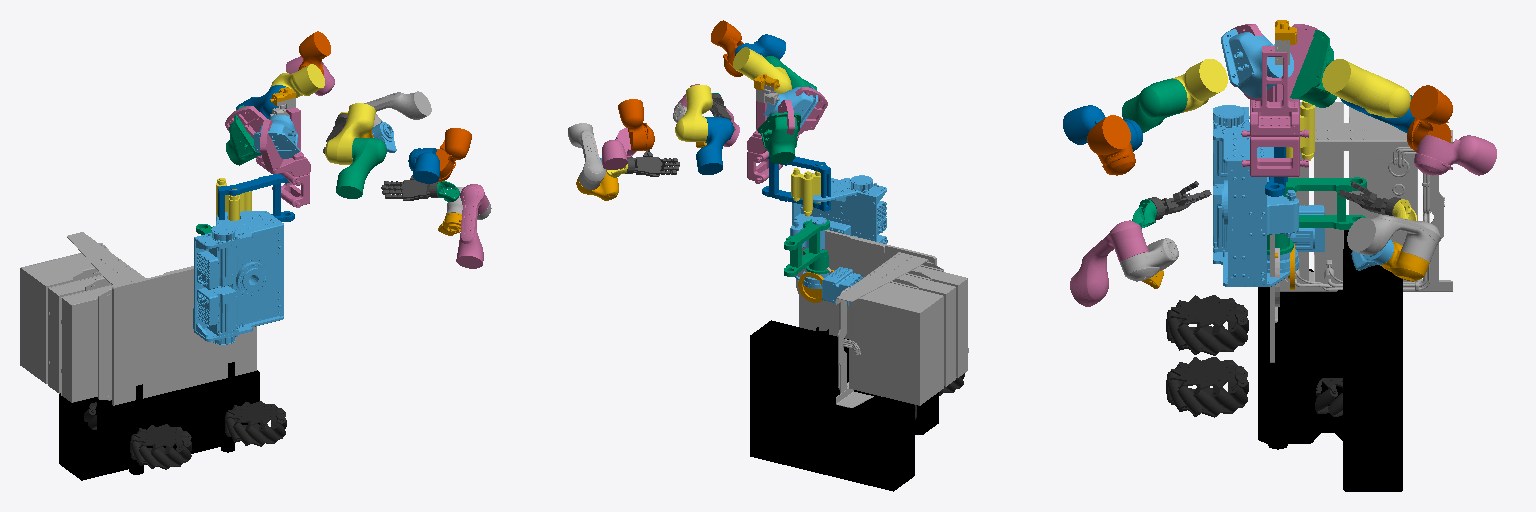
--- Facts derived from the render (not from the file) ---
Views: 3 orthographic renders of the robot side by side, from view 1: azimuth 30°, elevation 25°; view 2: azimuth 150°, elevation 25°; view 3: azimuth 270°, elevation 25°.
Model curi with 112 links and 111 joints (83 revolute, 4 continuous, 24 fixed), rooted at world, posed joints at zero except 2 at the middle of their limits (panda_left_joint4 = -1.57, panda_right_joint4 = -1.57).
Visible links, largest first — view 1: control_box, summit_xls_base_link, torso_base2, torso_end, summit_xls_back_right_wheel_link, summit_xls_front_right_wheel_link, panda_right_link5, panda_right_link1, panda_right_link2, torso_link_c1, panda_left_link5, panda_right_link4 (+7 smaller); view 2: control_box, summit_xls_base_link, torso_base2, torso_end, torso_link_b2, panda_left_link1, panda_left_link0, panda_left_link5, panda_left_link2, torso_link_c1, panda_left_link3, panda_right_link2 (+6 smaller); view 3: summit_xls_base_link, control_box, torso_base2, torso_end, summit_xls_front_right_wheel_link, summit_xls_back_right_wheel_link, panda_left_link1, panda_right_link5, panda_left_link5, panda_right_link0, panda_left_link4, torso_link_b2 (+11 smaller).
Link boxes in pixels (<box>): control_box: <box>20,232,256,405</box>; summit_xls_base_link: <box>59,362,259,480</box>; torso_base2: <box>193,211,283,344</box>; torso_end: <box>225,106,310,207</box>; summit_xls_back_right_wheel_link: <box>130,424,191,469</box>; summit_xls_front_right_wheel_link: <box>225,401,286,446</box>; panda_right_link5: <box>456,184,488,268</box>; panda_right_link1: <box>336,138,386,198</box>; panda_right_link2: <box>325,103,375,164</box>; torso_link_c1: <box>218,174,294,221</box>; panda_left_link5: <box>364,91,431,126</box>; panda_right_link4: <box>436,128,471,181</box>; control_box: <box>796,230,968,407</box>; summit_xls_base_link: <box>750,320,938,491</box>; torso_base2: <box>790,173,887,305</box>; torso_end: <box>747,87,827,183</box>; torso_link_b2: <box>784,219,829,276</box>; panda_left_link1: <box>675,85,712,141</box>; panda_left_link0: <box>757,112,800,163</box>; panda_left_link5: <box>568,123,605,189</box>; panda_left_link2: <box>696,117,733,174</box>; torso_link_c1: <box>762,156,830,211</box>; panda_left_link3: <box>618,99,654,150</box>; panda_right_link2: <box>733,47,791,93</box>; summit_xls_base_link: <box>1258,230,1402,491</box>; control_box: <box>1270,102,1452,362</box>; torso_base2: <box>1213,105,1324,286</box>; torso_end: <box>1227,24,1319,176</box>; summit_xls_front_right_wheel_link: <box>1166,357,1248,417</box>; summit_xls_back_right_wheel_link: <box>1166,295,1248,355</box>; panda_left_link1: <box>1322,59,1410,117</box>; panda_right_link5: <box>1070,220,1148,306</box>; panda_left_link5: <box>1347,214,1440,262</box>; panda_right_link0: <box>1221,29,1293,97</box>; panda_left_link4: <box>1414,135,1496,175</box>; torso_link_b2: <box>1267,177,1366,254</box>.
Size in the robot's own frame: 1.84 by 1.32 by 1.64 metres.
74 mesh visuals loaded from 32 distinct referenced files (30 binary STL); not drawn: 2 (reference not matched to a file when rendering).

robot.urdf — curi:
<?xml version="1.0" ?>
<!-- =================================================================================== -->
<!-- |    This document was autogenerated by xacro from ../robots/curi.urdf.xacro      | -->
<!-- |    EDITING THIS FILE BY HAND IS NOT RECOMMENDED                                 | -->
<!-- =================================================================================== -->
<robot name="curi">
  <!-- in kg-->
  <!-- =============================================================== -->
  <!-- || This file does not contain official inertial properties   || -->
  <!-- || of panda robot. The values are from the identification    || -->
  <!-- || results published in: Identification of the Franka Emika  || -->
  <!-- || PandaRobot With Retrieval of Feasible Parameters Using    || -->
  <!-- || Penalty-Based Optimization                                || -->
  <!-- || by: Claudio Gaz, Marco Cognetti, Alexander Oliva,         || -->
  <!-- || Paolo Robuffo Giordano, Alessandro de Luca                || -->
  <!-- =============================================================== -->

   <mujoco>
    <compiler meshdir="../all_meshes" balanceinertia="true"  discardvisual="false" />
  </mujoco>

  <link name="world"/>
  <material name="qbhand/optional">
  <color rgba="0.0 0.5 0.8 1.0"/>
  </material>
  <material name="qbhand/base">
    <color rgba="0.35 0.35 0.35 1.0"/>
  </material>
  <material name="qbhand/palm">
    <color rgba="0.35 0.35 0.35 1.0"/>
  </material>
  <material name="qbhand/knuckle">
    <color rgba="0.35 0.35 0.35 1.0"/>
  </material>
  <material name="qbhand/proximal">
    <color rgba="0.35 0.35 0.35 1.0"/>
  </material>
  <material name="qbhand/middle">
    <color rgba="0.35 0.35 0.35 1.0"/>
  </material>
  <material name="qbhand/distal">
    <color rgba="0.35 0.35 0.35 1.0"/>
  </material>
  <material name="qbhand/default">
    <color rgba="0.35 0.35 0.35 1.0"/>
  </material>
  <joint name="reference" type="fixed">
    <parent link="world"/>
    <child link="summit_xls_base_footprint"/>
  </joint>
  <link name="summit_xls_base_footprint">
    <visual>
      <origin rpy="0 0 0" xyz="0 0 0"/>
      <geometry>
        <box size="0.001 0.001 0.001"/>
      </geometry>
    </visual>
  </link>
  <joint name="summit_xls_base_footprint_joint" type="fixed">
    <origin rpy="0 0 0" xyz="0 0 0.127"/>
    <parent link="summit_xls_base_footprint"/>
    <child link="summit_xls_base_link"/>
  </joint>
  <!-- BASE_LINK -->
  <link name="summit_xls_base_link">
    <inertial>
      <mass value="300.0"/>
      <origin xyz="0 0 0"/>
      <inertia ixx="1.391" ixy="0.004" ixz="0.0" iyy="6.853" iyz="0.0" izz="6.125"/>
    </inertial>
    <visual>
      <origin rpy="0 0 0" xyz="0 0 0"/>
      <geometry>
        <mesh filename="../meshes/robotnik/bases/summit_xls_chassis_visual.stl"/>
      </geometry>
      <material name="black">
        <color rgba="0.0 0.0 0.0 1"/>
      </material>
    </visual>
    <collision>
      <origin rpy="0 0 0 " xyz="0 0 0"/>
      <geometry>
        <mesh filename="../meshes/robotnik/bases/summit_xls_chassis.stl"/>
      </geometry>
    </collision>
  </link>
  <joint name="summit_xls_front_right_wheel_joint" type="continuous">
    <parent link="summit_xls_base_link"/>
    <child link="summit_xls_front_right_wheel_link"/>
    <origin rpy="0 0 0" xyz="0.2225 -0.2045 0.0"/>
    <axis rpy="0 0 0" xyz="0 1 0"/>
    <limit effort="100" velocity="100"/>
    <joint_properties damping="0.0" friction="0.0"/>
  </joint>
  <link name="summit_xls_front_right_wheel_link">
    <visual>
      <origin rpy="0 0 0" xyz="0 0 0"/>
      <geometry>
        <mesh filename="../meshes/robotnik/wheels/omni_wheel_2_visual.stl"/>
      </geometry>
      <material name="darkgrey">
        <color rgba="0.2 0.2 0.2 1"/>
      </material>
    </visual>
    <collision>
      <origin rpy="1.5707963267948966 0 0" xyz="0 0 0"/>
      <geometry>
        <cylinder length="0.087" radius="0.127"/>
      </geometry>
    </collision>
    <inertial>
      <mass value="6.5"/>
      <origin xyz="0 0 0"/>
      <inertia ixx="0.0303095" ixy="0" ixz="0" iyy="0.05241925" iyz="0" izz="0.0303095"/>
    </inertial>
  </link>
  <joint name="summit_xls_front_left_wheel_joint" type="continuous">
    <parent link="summit_xls_base_link"/>
    <child link="summit_xls_front_left_wheel_link"/>
    <origin rpy="0 0 0" xyz="0.2225 0.2045 0.0"/>
    <axis rpy="0 0 0" xyz="0 1 0"/>
    <limit effort="100" velocity="100"/>
    <joint_properties damping="0.0" friction="0.0"/>
  </joint>
  <link name="summit_xls_front_left_wheel_link">
    <visual>
      <origin rpy="0 0 0" xyz="0 0 0"/>
      <geometry>
        <mesh filename="../meshes/robotnik/wheels/omni_wheel_1_visual.stl"/>
      </geometry>
      <material name="darkgrey">
        <color rgba="0.2 0.2 0.2 1"/>
      </material>
    </visual>
    <collision>
      <origin rpy="1.5707963267948966 0 0" xyz="0 0 0"/>
      <geometry>
        <cylinder length="0.087" radius="0.127"/>
      </geometry>
    </collision>
    <inertial>
      <mass value="6.5"/>
      <origin xyz="0 0 0"/>
      <inertia ixx="0.0303095" ixy="0" ixz="0" iyy="0.05241925" iyz="0" izz="0.0303095"/>
    </inertial>
  </link>
  <joint name="summit_xls_back_left_wheel_joint" type="continuous">
    <parent link="summit_xls_base_link"/>
    <child link="summit_xls_back_left_wheel_link"/>
    <origin rpy="0 0 0" xyz="-0.2225 0.2045 0.0"/>
    <axis rpy="0 0 0" xyz="0 1 0"/>
    <limit effort="100" velocity="100"/>
    <joint_properties damping="0.0" friction="0.0"/>
  </joint>
  <link name="summit_xls_back_left_wheel_link">
    <visual>
      <origin rpy="0 0 0" xyz="0 0 0"/>
      <geometry>
        <mesh filename="../meshes/robotnik/wheels/omni_wheel_1_visual.stl"/>
      </geometry>
      <material name="darkgrey">
        <color rgba="0.2 0.2 0.2 1"/>
      </material>
    </visual>
    <collision>
      <origin rpy="1.5707963267948966 0 0" xyz="0 0 0"/>
      <geometry>
        <cylinder length="0.087" radius="0.127"/>
      </geometry>
    </collision>
    <inertial>
      <mass value="6.5"/>
      <origin xyz="0 0 0"/>
      <inertia ixx="0.0303095" ixy="0" ixz="0" iyy="0.05241925" iyz="0" izz="0.0303095"/>
    </inertial>
  </link>
  <joint name="summit_xls_back_right_wheel_joint" type="continuous">
    <parent link="summit_xls_base_link"/>
    <child link="summit_xls_back_right_wheel_link"/>
    <origin rpy="0 0 0" xyz="-0.2225 -0.2045 0.0"/>
    <axis rpy="0 0 0" xyz="0 1 0"/>
    <limit effort="100" velocity="100"/>
    <joint_properties damping="0.0" friction="0.0"/>
  </joint>
  <link name="summit_xls_back_right_wheel_link">
    <visual>
      <origin rpy="0 0 0" xyz="0 0 0"/>
      <geometry>
        <mesh filename="../meshes/robotnik/wheels/omni_wheel_2_visual.stl"/>
      </geometry>
      <material name="darkgrey">
        <color rgba="0.2 0.2 0.2 1"/>
      </material>
    </visual>
    <collision>
      <origin rpy="1.5707963267948966 0 0" xyz="0 0 0"/>
      <geometry>
        <cylinder length="0.087" radius="0.127"/>
      </geometry>
    </collision>
    <inertial>
      <mass value="6.5"/>
      <origin xyz="0 0 0"/>
      <inertia ixx="0.0303095" ixy="0" ixz="0" iyy="0.05241925" iyz="0" izz="0.0303095"/>
    </inertial>
  </link>
  <joint name="torso_joint_summit_xls_base_footprint" type="fixed">
    <parent link="summit_xls_base_footprint"/>
    <child link="control_box"/>
    <origin rpy="0 0 0" xyz="0 0 0.52262"/>
  </joint>
  <link name="control_box">
    <visual>
      <origin rpy="0 0 0" xyz="0 0 0"/>
      <geometry>
        <mesh filename="../meshes/clover/visual/control_box_visual.stl"/>
      </geometry>
    </visual>
    <inertial>
      <!-- Estimated guesses from CAD -->
      <origin rpy="0 0 0" xyz="-0.221652 1.4173e-02 0.165597"/>
      <mass value="37.813"/>
      <inertia ixx="1.672305973" ixy="-0.023504956" ixz="-0.565170381" iyy="2.616747309" iyz="0.046623093" izz="2.524344244"/>
    </inertial>
  </link>
  <link name="torso_base1">
    <visual>
      <origin rpy="0 0 0" xyz="0 0 0"/>
      <geometry>
        <mesh filename="../meshes/clover/visual/torso_base1_visual.stl"/>
      </geometry>
    </visual>
    <collision>
      <origin rpy="0 0 0" xyz="0 0 0"/>
      <geometry>
        <mesh filename="../meshes/clover/collision/torso_base1.stl"/>
      </geometry>
    </collision>
    <inertial>
      <origin rpy="0 0 0" xyz="0 0 0.02555"/>
      <mass value="1.18"/>
      <inertia ixx="0.00241116" ixy="0" ixz="0" iyy="0.00241116" iyz="0" izz="0.00362611"/>
    </inertial>
  </link>
  <joint name="torso_joint1" type="fixed">
    <origin rpy="0 0 0" xyz="0.2375 0 0.015"/>
    <parent link="control_box"/>
    <child link="torso_base1"/>
  </joint>
  <link name="torso_base2">
    <visual>
      <origin rpy="0 0 0" xyz="0 0 0"/>
      <geometry>
        <mesh filename="../meshes/clover/visual/torso_base2_visual.stl"/>
      </geometry>
    </visual>
    <collision>
      <origin rpy="0 0 0" xyz="0 0 0"/>
      <geometry>
        <mesh filename="../meshes/clover/collision/torso_base2.stl"/>
      </geometry>
    </collision>
    <inertial>
      <origin rpy="0 0 0" xyz="-0.05478 0.03332 -0.07616"/>
      <mass value="35.66"/>
      <inertia ixx="0.87275935" ixy="-0.06173772" ixz="0.01895727" iyy="0.57302356" iyz="0.11888755" izz="1.06212354"/>
    </inertial>
  </link>
  <joint name="torso_actuated_joint1" type="revolute">
    <safety_controller k_position="100.0" k_velocity="40.0" soft_lower_limit="-1.5" soft_upper_limit="1.5"/>
    <origin rpy="0 0 0" xyz="0 0 0.215"/>
    <parent link="torso_base1"/>
    <child link="torso_base2"/>
    <axis xyz="0 0 1"/>
    <limit acceleration="0.6" effort="300" lower="-1.57" upper="1.57" velocity="0.3"/>
    <dynamics D="1" K="7000" damping="0.003" friction="0.0" mu_coulomb="0" mu_viscous="16"/>
  </joint>
  <link name="torso_link_b2">
    <visual>
      <origin rpy="0 0 0" xyz="0 0 0"/>
      <geometry>
        <mesh filename="../meshes/clover/visual/torso_link_b2_visual.stl"/>
      </geometry>
    </visual>
    <collision>
      <origin rpy="0 0 0" xyz="0 0 0"/>
      <geometry>
        <mesh filename="../meshes/clover/collision/torso_link_b2.stl"/>
      </geometry>
    </collision>
    <inertial>
      <origin rpy="0 0 0" xyz="2.066e-03 2.4036e-02 8.3361e-02"/>
      <mass value="2.698"/>
      <inertia ixx="0.035907338" ixy="-0.000134319" ixz="0.000037769" iyy="0.023944853" iyz="-0.005304362" izz="0.014484777"/>
    </inertial>
  </link>
  <joint name="torso_actuated_joint2" type="fixed">
    <origin rpy="0 0 0" xyz="0 0 0"/>
    <parent link="torso_base2"/>
    <child link="torso_link_b2"/>
    <axis xyz="0 1 0"/>
    <limit acceleration="0.6" effort="300" lower="-1.2" upper="0.5" velocity="0.3"/>
    <dynamics D="1" K="7000" damping="0.003" friction="0.0" mu_coulomb="0" mu_viscous="16"/>
  </joint>
  <link name="torso_middle">
    <visual>
      <origin rpy="0 0 0" xyz="0 0 0"/>
      <geometry>
        <mesh filename="../meshes/clover/visual/torso_middle_visual.stl"/>
      </geometry>
    </visual>
    <collision>
      <origin rpy="0 0 0" xyz="0 0 0"/>
      <geometry>
        <mesh filename="../meshes/clover/collision/torso_middle.stl"/>
      </geometry>
    </collision>
    <inertial>
      <origin rpy="0 0 0" xyz="3.2089e-02 0 4.789e-02"/>
      <mass value="2.688"/>
      <inertia ixx="0.00744652" ixy="-0.00003495" ixz="0.000230038" iyy="0.006884728" iyz="0.000041279" izz="0.008084049"/>
    </inertial>
  </link>
  <joint name="torso_joint5" type="fixed">
    <origin rpy="0 0 0" xyz="0 0 0.25"/>
    <parent link="torso_link_b2"/>
    <child link="torso_middle"/>
    <axis xyz="0 1 0"/>
    <limit acceleration="0.6" effort="300" lower="-0.5" upper="1.2" velocity="0.3"/>
    <dynamics D="1" K="7000" damping="0.003" friction="0.0" mu_coulomb="0" mu_viscous="16"/>
    <mimic joint="torso_actuated_joint2" multiplier="-1"/>
  </joint>
  <link name="torso_link_c1">
    <visual>
      <origin rpy="0 0 0" xyz="0 0 0"/>
      <geometry>
        <mesh filename="../meshes/clover/visual/torso_link_c1_visual.stl"/>
      </geometry>
    </visual>
    <collision>
      <origin rpy="0 0 0" xyz="0 0 0"/>
      <geometry>
        <mesh filename="../meshes/clover/collision/torso_link_c1.stl"/>
      </geometry>
    </collision>
    <inertial>
      <origin rpy="0 0 0" xyz="0.10533 1.503e-03 9.863e-03"/>
      <mass value="2.4"/>
      <inertia ixx="0.014986407" ixy="-1.7102e-05" ixz="-4.53321e-04" iyy="0.027549549" iyz="-3.557e-05" izz="0.041344611"/>
    </inertial>
  </link>
  <joint name="torso_actuated_joint3" type="fixed">
    <origin rpy="0 0 0" xyz="0 0 0"/>
    <parent link="torso_middle"/>
    <child link="torso_link_c1"/>
  </joint>
  <link name="shell">
    <visual>
      <origin rpy="0 0 0" xyz="0 0 0"/>
      <geometry>
        <mesh filename="../meshes/clover/visual/shell_v2_share_zup_visual.stl"/>
      </geometry>
    <material name="shell">
        <color rgba="1 1 1. 1.0"/>
      </material>
    </visual>
    <collision>
      <origin rpy="0 0 0" xyz="0 0 0"/>
      <geometry>
        <mesh filename="../meshes/clover/collision/Shell_v2_Share_zup.STL"/>
      </geometry>
    </collision>
    <inertial>
      <origin rpy="0 0 0" xyz="0.120384 0.569e-03 6.703e-03"/>
      <mass value="1.63531"/>
      <inertia ixx="0.010693997" ixy="5.645e-06" ixz="-9.4779e-04" iyy="0.026717753" iyz="-8.196e-06" izz="0.036543169"/>
    </inertial>
  </link>
  <joint name="shell_torso_end" type="fixed">
    <parent link="torso_end"/>
    <child link="shell"/>
    <origin rpy="0 0 0" xyz="0 0 0"/>
  </joint>
  <link name="torso_end">
    <visual>
      <origin rpy="0 0 0" xyz="0 0 0"/>
      <geometry>
        <mesh filename="../meshes/clover/visual/torso_end_v2_visual.stl"/>
      </geometry>
    </visual>
    <collision>
      <origin rpy="0 0 0" xyz="0 0 0"/>
      <geometry>
        <mesh filename="../meshes/clover/collision/torso_end_v2.stl"/>
      </geometry>
    </collision>
    <inertial>
      <origin rpy="0 0 0" xyz="-5.05e-03 -0.09e-03 0.27614"/>
      <mass value="1.63531"/>
      <inertia ixx="0.010693997" ixy="5.645e-06" ixz="-9.4779e-04" iyy="0.026717753" iyz="-8.196e-06" izz="0.036543169"/>
    </inertial>
  </link>
  <joint name="torso_joint8" type="fixed">
    <origin rpy="0 0 0" xyz="0.25 0 0"/>
    <parent link="torso_link_c1"/>
    <child link="torso_end"/>
  </joint>
  <joint name="head_joint_torso_end" type="fixed">
    <parent link="torso_end"/>
    <child link="head_base"/>
    <origin rpy="0 0 0" xyz="0.02 0 0.3929"/>
  </joint>
  <link name="head_base">
    <visual>
      <origin rpy="0 0 0" xyz="0 0 0"/>
      <geometry>
        <mesh filename="../meshes/clover/visual/head_base_visual.stl"/>
      </geometry>
    </visual>
    <collision>
      <origin rpy="0 0 0" xyz="0 0 0"/>
      <geometry>
        <mesh filename="../meshes/clover/collision/head_base.stl"/>
      </geometry>
    </collision>
    <inertial>
      <!-- Estimated guesses from CAD -->
      <origin rpy="0 0 0" xyz="-1.9726e-02 1.281e-03 2.2693e-02"/>
      <mass value="0.803"/>
      <inertia ixx="6.56432e-04" ixy="-3.4976e-05" ixz="0.652e-6" iyy="6.42664e-04" iyz="-1.577e-06" izz="1.046862e-03"/>
    </inertial>
  </link>
  <joint name="head_actuated_joint1" type="revolute">
    <safety_controller k_position="100.0" k_velocity="40.0" soft_lower_limit="-1.5" soft_upper_limit="1.5"/>
    <origin rpy="0 0 0" xyz="0 0 0.045"/>
    <parent link="head_base"/>
    <child link="head_link1"/>
    <axis xyz="0 0 1"/>
    <limit effort="30" lower="-1.57" upper="1.57" velocity="1.0"/>
    <dynamics D="1" K="7000" damping="0.003" friction="0.0" mu_coulomb="0" mu_viscous="16"/>
  </joint>
  <link name="head_link1">
    <visual>
      <origin rpy="0 0 0" xyz="0 0 0"/>
      <geometry>
        <mesh filename="../meshes/clover/visual/head_link1_visual.stl"/>
      </geometry>
    </visual>
    <collision>
      <origin rpy="0 0 0" xyz="0 0 0"/>
      <geometry>
        <mesh filename="../meshes/clover/collision/head_link1.stl"/>
      </geometry>
    </collision>
    <inertial>
      <!-- Estimated guesses from CAD -->
      <origin rpy="0 0 0" xyz="-1.8392e-02 -0.4e-03 2.8338e-02"/>
      <mass value="0.534"/>
      <inertia ixx="2.34142e-04" ixy="-3.129e-06" ixz="6.321e-05" iyy="5.09246e-04" iyz="1.49e-06" izz="4.3777e-04"/>
    </inertial>
  </link>
  <joint name="head_actuated_joint2" type="revolute">
    <safety_controller k_position="100.0" k_velocity="40.0" soft_lower_limit="-0.8" soft_upper_limit="0.5"/>
    <origin rpy="0 0 0" xyz="0 0 0.043"/>
    <parent link="head_link1"/>
    <child link="head_link2"/>
    <axis xyz="0 1 0"/>
    <limit effort="30" lower="-0.82" upper="0.52" velocity="1.0"/>
    <dynamics D="1" K="7000" damping="0.003" friction="0.0" mu_coulomb="0" mu_viscous="16"/>
  </joint>
  <link name="head_link2">
    <visual>
      <origin rpy="0 0 0" xyz="0 0 0"/>
      <geometry>
        <mesh filename="../meshes/clover/visual/head_link2_visual.stl"/>
      </geometry>
    </visual>
    <collision>
      <origin rpy="0 0 0" xyz="0 0 0"/>
      <geometry>
        <mesh filename="../meshes/clover/collision/head_link2.stl"/>
      </geometry>
    </collision>
    <inertial>
      <!-- Estimated guesses from CAD -->
      <origin rpy="0 0 0" xyz="3.8624e-02 0 0.143829"/>
      <mass value="1.346"/>
      <inertia ixx="0.010306864" ixy="-5.953e-06" ixz="6.74795e-04" iyy="0.011632066" iyz="-1.125e-06" izz="0.009582498"/>
    </inertial>
  </link>
  <joint name="panda_left_joint_torso_end" type="fixed">
    <parent link="torso_end"/>
    <child link="panda_left_link0"/>
    <origin rpy="-1.3685238493647454 0.913218224774749 -0.6168337646727412" xyz="-0.08537 0.07009 0.2535"/>
  </joint>
  <link name="panda_left_link0">
    <visual>
      <origin rpy="0 0 0" xyz="0 0 0"/>
      <geometry>
        <mesh filename="../meshes/franka/visual/link0_visual.stl"/>
      </geometry>
    </visual>
    <collision>
      <origin rpy="0 0 0" xyz="0 0 0"/>
      <geometry>
        <mesh filename="../meshes/franka/collision/link0.stl"/>
      </geometry>
    </collision>
    <inertial>
      <!-- Estimated guesses from CAD -->
      <origin rpy="0 0 0" xyz="-0.041018 -0.00014 0.049974"/>
      <mass value="0.629769"/>
      <inertia ixx="0.00315" ixy="8.2904E-07" ixz="0.00015" iyy="0.00388" iyz="8.2299E-06" izz="0.004285"/>
    </inertial>
  </link>
  <link name="panda_left_link1">
    <visual>
      <origin rpy="0 0 0" xyz="0 0 0"/>
      <geometry>
        <mesh filename="../meshes/franka/visual/link1_visual.stl"/>
      </geometry>
    </visual>
    <collision>
      <origin rpy="0 0 0" xyz="0 0 0"/>
      <geometry>
        <mesh filename="../meshes/franka/collision/link1.stl"/>
      </geometry>
    </collision>
    <inertial>
      <origin rpy="0 0 0" xyz="0.003875 0.002081 -0.04762"/>
      <mass value="4.970684"/>
      <inertia ixx="0.70337" ixy="-0.00013900" ixz="0.0067720" iyy="0.70661" iyz="0.019169" izz="0.0091170"/>
    </inertial>
  </link>
  <joint name="panda_left_joint1" type="revolute">
    <safety_controller k_position="100.0" k_velocity="40.0" soft_lower_limit="-2.8973" soft_upper_limit="2.8973"/>
    <origin rpy="0 0 0" xyz="0 0 0.333"/>
    <parent link="panda_left_link0"/>
    <child link="panda_left_link1"/>
    <axis xyz="0 0 1"/>
    <limit acceleration="15" effort="87" lower="-2.8973" upper="2.8973" velocity="2.1750"/>
    <dynamics D="1" K="7000" damping="0.003" friction="0.0" mu_coulomb="0" mu_viscous="16"/>
  </joint>
  <link name="panda_left_link2">
    <visual>
      <origin rpy="0 0 0" xyz="0 0 0"/>
      <geometry>
        <mesh filename="../meshes/franka/visual/link2_visual.stl"/>
      </geometry>
    </visual>
    <collision>
      <origin rpy="0 0 0" xyz="0 0 0"/>
      <geometry>
        <mesh filename="../meshes/franka/collision/link2.stl"/>
      </geometry>
    </collision>
    <inertial>
      <origin rpy="0 0 0" xyz=" -0.003141 -0.02872  0.003495"/>
      <mass value="0.646926"/>
      <inertia ixx="0.0079620" ixy="-3.9250e-3" ixz="1.0254e-02" iyy="2.8110e-02" iyz="7.0400e-04" izz="2.5995e-02"/>
    </inertial>
  </link>
  <joint name="panda_left_joint2" type="revolute">
    <safety_controller k_position="100.0" k_velocity="40.0" soft_lower_limit="-1.7628" soft_upper_limit="1.7628"/>
    <origin rpy="-1.5707963267948966 0 0" xyz="0 0 0"/>
    <parent link="panda_left_link1"/>
    <child link="panda_left_link2"/>
    <axis xyz="0 0 1"/>
    <limit acceleration="7.5" effort="87" lower="-1.7628" upper="1.7628" velocity="2.1750"/>
    <dynamics D="1" K="7000" damping="0.003" friction="0.0" mu_coulomb="0" mu_viscous="16"/>
  </joint>
  <link name="panda_left_link3">
    <visual>
      <origin rpy="0 0 0" xyz="0 0 0"/>
      <geometry>
        <mesh filename="../meshes/franka/visual/link3_visual.stl"/>
      </geometry>
    </visual>
    <collision>
      <origin rpy="0 0 0" xyz="0 0 0"/>
      <geometry>
        <mesh filename="../meshes/franka/collision/link3.stl"/>
      </geometry>
    </collision>
    <inertial>
      <origin rpy="0 0 0" xyz="2.7518e-02 3.9252e-02 -6.6502e-02"/>
      <mass value="3.228604"/>
      <inertia ixx="3.7242e-02" ixy="-4.7610e-03" ixz="-1.1396e-02" iyy="3.6155e-02" iyz="-1.2805e-02" izz="1.0830e-02"/>
    </inertial>
  </link>
  <joint name="panda_left_joint3" type="revolute">
    <safety_controller k_position="100.0" k_velocity="40.0" soft_lower_limit="-2.8973" soft_upper_limit="2.8973"/>
    <origin rpy="1.5707963267948966 0 0" xyz="0 -0.316 0"/>
    <parent link="panda_left_link2"/>
    <child link="panda_left_link3"/>
    <axis xyz="0 0 1"/>
    <limit acceleration="12.5" effort="87" lower="-2.8973" upper="2.8973" velocity="2.1750"/>
    <dynamics D="1" K="7000" damping="0.003" friction="0.0" mu_coulomb="0" mu_viscous="16"/>
  </joint>
  <link name="panda_left_link4">
    <visual>
      <origin rpy="0 0 0" xyz="0 0 0"/>
      <geometry>
        <mesh filename="../meshes/franka/visual/link4_visual.stl"/>
      </geometry>
    </visual>
    <collision>
      <origin rpy="0 0 0" xyz="0 0 0"/>
      <geometry>
        <mesh filename="../meshes/franka/collision/link4.stl"/>
      </geometry>
    </collision>
    <inertial>
      <origin rpy="0 0 0" xyz="-5.317e-02 1.04419e-01 2.7454e-02"/>
      <mass value="3.587895"/>
      <inertia ixx="2.5853e-02" ixy="7.7960e-03" ixz="-1.3320e-03" iyy="1.9552e-02" iyz="8.6410e-03" izz="2.8323e-02"/>
    </inertial>
  </link>
  <joint name="panda_left_joint4" type="revolute">
    <safety_controller k_position="100.0" k_velocity="40.0" soft_lower_limit="-3.0718" soft_upper_limit="-0.0698"/>
    <origin rpy="1.5707963267948966 0 0" xyz="0.0825 0 0"/>
    <parent link="panda_left_link3"/>
    <child link="panda_left_link4"/>
    <axis xyz="0 0 1"/>
    <limit acceleration="12.5" effort="87" lower="-3.0718" upper="-0.0698" velocity="2.1750"/>
    <dynamics D="1" K="7000" damping="0.003" friction="0.0" mu_coulomb="0" mu_viscous="16"/>
  </joint>
  <link name="panda_left_link5">
    <visual>
      <origin rpy="0 0 0" xyz="0 0 0"/>
      <geometry>
        <mesh filename="../meshes/franka/visual/link5_visual.stl"/>
      </geometry>
    </visual>
    <collision>
      <origin rpy="0 0 0" xyz="0 0 0"/>
      <geometry>
        <mesh filename="../meshes/franka/collision/link5.stl"/>
      </geometry>
    </collision>
    <inertial>
      <origin rpy="0 0 0" xyz="-1.1953e-02 4.1065e-02 -3.8437e-02"/>
      <mass value="1.225946"/>
      <inertia ixx="3.5549e-02" ixy="-2.1170e-03" ixz="-4.0370e-03" iyy="2.9474e-02" iyz="2.2900e-04" izz="8.6270e-03"/>
    </inertial>
  </link>
  <joint name="panda_left_joint5" type="revolute">
    <safety_controller k_position="100.0" k_velocity="40.0" soft_lower_limit="-2.8973" soft_upper_limit="2.8973"/>
    <origin rpy="-1.5707963267948966 0 0" xyz="-0.0825 0.384 0"/>
    <parent link="panda_left_link4"/>
    <child link="panda_left_link5"/>
    <axis xyz="0 0 1"/>
    <limit acceleration="15" effort="12" lower="-2.8973" upper="2.8973" velocity="2.6100"/>
    <dynamics D="1" K="7000" damping="0.003" friction="0.0" mu_coulomb="0" mu_viscous="16"/>
  </joint>
  <link name="panda_left_link6">
    <visual>
      <origin rpy="0 0 0" xyz="0 0 0"/>
      <geometry>
        <mesh filename="../meshes/franka/visual/link6_visual.stl"/>
      </geometry>
    </visual>
    <collision>
      <origin rpy="0 0 0" xyz="0 0 0"/>
      <geometry>
        <mesh filename="../meshes/franka/collision/link6.stl"/>
      </geometry>
    </collision>
    <inertial>
      <origin rpy="0 0 0" xyz="6.0149e-02 -1.4117e-02 -1.0517e-02"/>
      <mass value="1.666555"/>
      <inertia ixx="1.9640e-03" ixy="1.0900e-04" ixz="-1.1580e-03" iyy="4.3540e-03" iyz="3.4100e-04" izz="5.4330e-03"/>
    </inertial>
  </link>
  <joint name="panda_left_joint6" type="revolute">
    <safety_controller k_position="100.0" k_velocity="40.0" soft_lower_limit="-0.0175" soft_upper_limit="3.7525"/>
    <origin rpy="1.5707963267948966 0 0" xyz="0 0 0"/>
    <parent link="panda_left_link5"/>
    <child link="panda_left_link6"/>
    <axis xyz="0 0 1"/>
    <limit acceleration="20" effort="12" lower="-0.0175" upper="3.7525" velocity="2.6100"/>
    <dynamics D="1" K="7000" damping="0.003" friction="0.0" mu_coulomb="0" mu_viscous="16"/>
  </joint>
  <link name="panda_left_link7">
    <visual>
      <origin rpy="0 0 0" xyz="0 0 0"/>
      <geometry>
        <mesh filename="../meshes/franka/visual/link7_visual.stl"/>
      </geometry>
    </visual>
    <collision>
      <origin rpy="0 0 0" xyz="0 0 0"/>
      <geometry>
        <mesh filename="../meshes/franka/collision/link7.stl"/>
      </geometry>
    </collision>
    <inertial>
      <origin rpy="0 0 0" xyz="1.0517e-02 -4.252e-03 6.1597e-02"/>
      <mass value="7.35522e-01"/>
      <inertia ixx="1.2516e-02" ixy="-4.2800e-04" ixz="-1.1960e-03" iyy="1.0027e-02" iyz="-7.4100e-04" izz="4.8150e-03"/>
    </inertial>
  </link>
  <joint name="panda_left_joint7" type="revolute">
    <safety_controller k_position="100.0" k_velocity="40.0" soft_lower_limit="-2.8973" soft_upper_limit="2.8973"/>
    <origin rpy="1.5707963267948966 0 0" xyz="0.088 0 0"/>
    <parent link="panda_left_link6"/>
    <child link="panda_left_link7"/>
    <axis xyz="0 0 1"/>
    <limit acceleration="20" effort="12" lower="-2.8973" upper="2.8973" velocity="2.6100"/>
    <dynamics D="1" K="7000" damping="0.003" friction="0.0" mu_coulomb="0" mu_viscous="16"/>
  </joint>
  <joint name="panda_left_end_effector_joint" type="fixed">
    <parent link="panda_left_link7"/>
    <child link="left_hand_root_link"/>
    <origin rpy="0 0 -0.7853981633974483" xyz="0 0 0.107"/>
  </joint>
  <link name="left_hand_root_link"/>
  <joint name="left_qbhand_flange_joint" type="fixed">
    <origin rpy="0 0 0.7854" xyz="0 0 0"/>
    <parent link="left_hand_root_link"/>
    <child link="flange90_l"/>
  </joint>
  <link name="flange90_l">
    <visual>
      <origin rpy="0 0 0" xyz="0 0 0"/>
      <geometry>
        <mesh filename="../meshes/clover/visual/flange90_zup_visual.stl"/>
      </geometry>
    </visual>
    <collision>
      <origin rpy="0 0 0" xyz="0 0 0"/>
      <geometry>
        <mesh filename="../meshes/clover/collision/flange90_zup.STL"/>
      </geometry>
    </collision>
  </link>
  <joint name="left_qbhand_base_fixed_joint" type="fixed">
    <origin rpy="1.5708 0 1.5708" xyz="0.046 0 0.038"/>
    <parent link="flange90_l"/>
    <child link="left_qbhand_base_link"/>
  </joint>
  <link name="left_qbhand_base_link">
    <inertial>
      <mass value="0.205"/>
      <origin rpy="0 0 0" xyz="0.0 7.8738498e-04 1.5878899e-02"/>
      <inertia ixx="0.00012506929" ixy="0.0" ixz="0.0" iyy="0.0001338779" iyz="0.0" izz="0.00019218394"/>
    </inertial>
    <visual>
      <origin rpy="0 0 0" xyz="0 0 0"/>
      <geometry>
        <mesh filename="../meshes/qbhand/flange_iso_04.stl" scale="0.001 0.001 0.001"/>
      </geometry>
      <material name="qbhand/base">
        <color rgba="0.35 0.35 0.35 1.0"/>
      </material>
    </visual>
    <collision>
      <origin rpy="0 0 0" xyz="0 0 0"/>
      <geometry>
        <mesh filename="../meshes/qbhand/flange_iso_04.stl" scale="0.001 0.001 0.001"/>
      </geometry>
    </collision>
  </link>
  <joint name="left_qbhand_palm_fixed_joint" type="fixed">
    <origin rpy="1.57 0 3.14" xyz="0.0045 0.0145 0.144"/>
    <parent link="left_qbhand_base_link"/>
    <child link="left_qbhand_palm_link"/>
  </joint>
  <link name="left_qbhand_palm_link">
    <inertial>
      <mass value="0.45"/>
      <origin rpy="0 0 0" xyz="0.0030 -0.0449 -0.0135"/>
      <inertia ixx="0.00045" ixy="0.0" ixz="0.0" iyy="0.0006" iyz="0.0" izz="0.00025"/>
    </inertial>
    <visual>
      <origin rpy="0 0 0" xyz="0 0 0"/>
      <geometry>
        <mesh filename="../meshes/qbhand/palm_pinch_l.stl" scale="0.001 0.001 0.001"/>
      </geometry>
      <material name="qbhand/palm">
        <color rgba="0.35 0.35 0.35 1.0"/>
      </material>
    </visual>
    <collision>
      <origin rpy="0 0 0" xyz="0 0 0"/>
      <geometry>
        <mesh filename="../meshes/qbhand/palm_pinch_l.stl" scale="0.001 0.001 0.001"/>
      </geometry>
    </collision>
  </link>
  <joint name="left_qbhand_synergy_joint" type="fixed">
    <origin rpy="0 0 0" xyz="0 0 0"/>
    <parent link="left_qbhand_palm_link"/>
    <child link="left_qbhand_synergy_tendon_virtual_link"/>
    <axis xyz="0 0 1"/>
    <dynamics damping="0.0" friction="0.0"/>
    <limit effort="100" lower="0.0" upper="1.0" velocity="100"/>
  </joint>
  <link name="left_qbhand_synergy_tendon_virtual_link">
    <inertial>
      <origin rpy="0 0 0" xyz="0 0 0"/>
      <mass value="1e-4"/>
      <inertia ixx="1e-9" ixy="0.0" ixz="0.0" iyy="1e-9" iyz="0.0" izz="1e-9"/>
    </inertial>
  </link>
  <joint name="left_qbhand_thumb_knuckle_joint" type="revolute">
    <origin rpy="-1.57 3.14 0.0" xyz="-0.044 -0.0465 0.002"/>
    <parent link="left_qbhand_palm_link"/>
    <child link="left_qbhand_thumb_knuckle_link"/>
    <axis xyz="0 0 1"/>
    <dynamics damping="0.0" friction="0.0"/>
    <limit effort="100" lower="0.0" upper="1.571" velocity="100"/>
    <mimic joint="left_qbhand_synergy_joint" multiplier="2.542"/>
  </joint>
  <link name="left_qbhand_thumb_knuckle_link">
    <inertial>
      <mass value="0.01"/>
      <origin rpy="0 0 0" xyz="1.3071561e-02 2.7346340e-03 6.4090487e-04"/>
      <inertia ixx="3.5827953e-07" ixy="-2.0934657e-07" ixz="-6.8435459e-08" iyy="1.3882698e-06" iyz="-3.2001578e-08" izz="1.3570267e-06"/>
    </inertial>
    <visual>
      <origin rpy="0 0 0" xyz="0 0 0"/>
      <geometry>
        <mesh filename="../meshes/qbhand/ph_thumb_l.stl" scale="0.001 0.001 0.001"/>
      </geometry>
      <material name="qbhand/knuckle">
        <color rgba="0.35 0.35 0.35 1.0"/>
      </material>
    </visual>
    <collision>
      <origin rpy="0 0 0" xyz="0 0 0"/>
      <geometry>
        <mesh filename="../meshes/qbhand/ph_thumb_l.stl" scale="0.001 0.001 0.001"/>
      </geometry>
    </collision>
  </link>
  <joint name="left_qbhand_thumb_proximal_joint" type="revolute">
    <origin rpy="-2.0 0.0 0.0" xyz="0.0255 0.0038 -0.00012"/>
    <parent link="left_qbhand_thumb_knuckle_link"/>
    <child link="left_qbhand_thumb_proximal_virtual_link"/>
    <axis xyz="0 0 -1"/>
    <dynamics damping="0.0" friction="0.0"/>
    <limit effort="100" lower="0.0" upper="0.785" velocity="100"/>
    <mimic joint="left_qbhand_synergy_joint" multiplier="0.785"/>
  </joint>
  <link name="left_qbhand_thumb_proximal_virtual_link">
    <inertial>
      <origin rpy="0 0 0" xyz="0 0 0"/>
      <mass value="1e-4"/>
      <inertia ixx="1e-9" ixy="0.0" ixz="0.0" iyy="1e-9" iyz="0.0" izz="1e-9"/>
    </inertial>
  </link>
  <joint name="left_qbhand_thumb_proximal_virtual_joint" type="revolute">
    <origin rpy="0 0 0" xyz="0.013 0 0"/>
    <parent link="left_qbhand_thumb_proximal_virtual_link"/>
    <child link="left_qbhand_thumb_proximal_link"/>
    <axis xyz="0 0 -1"/>
    <dynamics damping="0.0" friction="0.0"/>
    <limit effort="100" lower="0.0" upper="0.785" velocity="100"/>
    <mimic joint="left_qbhand_thumb_proximal_joint" multiplier="1.0"/>
  </joint>
  <link name="left_qbhand_thumb_proximal_link">
    <inertial>
      <mass value="0.0063"/>
      <origin rpy="0 0 0" xyz="4.7601567e-03 -1.3786947e-03 0.0"/>
      <inertia ixx="1.8024201e-07" ixy="5.756798e-09" ixz="0.0" iyy="2.3516266e-07" iyz="0.0" izz="2.691504e-07"/>
    </inertial>
    <visual>
      <origin rpy="0 0 0" xyz="0 0 0"/>
      <geometry>
        <mesh filename="../meshes/qbhand/ph_short.stl" scale="0.001 0.001 0.001"/>
      </geometry>
      <material name="qbhand/proximal">
        <color rgba="0.35 0.35 0.35 1.0"/>
      </material>
    </visual>
    <collision>
      <origin rpy="0 0 0" xyz="0 0 0"/>
      <geometry>
        <mesh filename="../meshes/qbhand/ph_short.stl" scale="0.001 0.001 0.001"/>
      </geometry>
    </collision>
  </link>
  <joint name="left_qbhand_thumb_distal_joint" type="revolute">
    <origin rpy="0 0 0" xyz="0.009 0 0"/>
    <parent link="left_qbhand_thumb_proximal_link"/>
    <child link="left_qbhand_thumb_distal_virtual_link"/>
    <axis xyz="0 0 -1"/>
    <dynamics damping="0.0" friction="0.0"/>
    <limit effort="100" lower="0.0" upper="0.785" velocity="100"/>
    <mimic joint="left_qbhand_synergy_joint" multiplier="0.785"/>
  </joint>
  <link name="left_qbhand_thumb_distal_virtual_link">
    <inertial>
      <origin rpy="0 0 0" xyz="0 0 0"/>
      <mass value="1e-4"/>
      <inertia ixx="1e-9" ixy="0.0" ixz="0.0" iyy="1e-9" iyz="0.0" izz="1e-9"/>
    </inertial>
  </link>
  <joint name="left_qbhand_thumb_distal_virtual_joint" type="revolute">
    <origin rpy="0 0 0" xyz="0.013 0 0"/>
    <parent link="left_qbhand_thumb_distal_virtual_link"/>
    <child link="left_qbhand_thumb_distal_link"/>
    <axis xyz="0 0 -1"/>
    <dynamics damping="0.0" friction="0.0"/>
    <limit effort="100" lower="0.0" upper="0.785" velocity="100"/>
    <mimic joint="left_qbhand_thumb_distal_joint" multiplier="1.0"/>
  </joint>
  <link name="left_qbhand_thumb_distal_link">
    <inertial>
      <mass value="0.009"/>
      <origin rpy="0 0 0" xyz="8.8025467e-03 -1.7219289e-03 0.0"/>
      <inertia ixx="2.6586142e-07" ixy="1.2416847e-08" ixz="0.0" iyy="5.9935767e-07" iyz="0.0" izz="6.6781963e-07"/>
    </inertial>
    <visual>
      <origin rpy="0 0 0" xyz="0 0 0"/>
      <geometry>
        <mesh filename="../meshes/qbhand/ph_distal.stl" scale="0.001 0.001 0.001"/>
      </geometry>
      <material name="qbhand/distal">
        <color rgba="0.35 0.35 0.35 1.0"/>
      </material>
    </visual>
    <collision>
      <origin rpy="0 0 0" xyz="0 0 0"/>
      <geometry>
        <mesh filename="../meshes/qbhand/ph_distal.stl" scale="0.001 0.001 0.001"/>
      </geometry>
    </collision>
  </link>
  <joint name="left_qbhand_index_knuckle_joint" type="revolute">
    <origin rpy="0 3.14 -1.57" xyz="-0.02 -0.007 -0.014"/>
    <parent link="left_qbhand_palm_link"/>
    <child link="left_qbhand_index_knuckle_link"/>
    <axis xyz="0 0 -1"/>
    <dynamics damping="0.0" friction="0.0"/>
    <limit effort="100" lower="-0.524" upper="0.524" velocity="100"/>
    <mimic joint="left_qbhand_synergy_joint" multiplier="0.2"/>
  </joint>
  <link name="left_qbhand_index_knuckle_link">
    <inertial>
      <mass value="0.0095"/>
      <origin rpy="0 0 0" xyz="4.2753603e-04  0.0 -1.4321738e-03"/>
      <inertia ixx="6.4337303e-07" ixy="0.0" ixz="-3.9373913e-08" iyy="1.1253771e-06" iyz="0.0" izz="7.2336948e-07"/>
    </inertial>
    <visual>
      <origin rpy="0 0 0" xyz="0 0 0"/>
      <geometry>
        <mesh filename="../meshes/qbhand/ph_knuckle.stl" scale="0.001 0.001 0.001"/>
      </geometry>
      <material name="qbhand/knuckle">
        <color rgba="0.35 0.35 0.35 1.0"/>
      </material>
    </visual>
    <collision>
      <origin rpy="0 0 0" xyz="0 0 0"/>
      <geometry>
        <mesh filename="../meshes/qbhand/ph_knuckle.stl" scale="0.001 0.001 0.001"/>
      </geometry>
    </collision>
  </link>
  <joint name="left_qbhand_index_proximal_joint" type="revolute">
    <origin rpy="1.57 0 0" xyz="0.009 0 0"/>
    <parent link="left_qbhand_index_knuckle_link"/>
    <child link="left_qbhand_index_proximal_virtual_link"/>
    <axis xyz="0 0 -1"/>
    <dynamics damping="0.0" friction="0.0"/>
    <limit effort="100" lower="0.0" upper="0.785" velocity="100"/>
    <mimic joint="left_qbhand_synergy_joint" multiplier="0.785"/>
  </joint>
  <link name="left_qbhand_index_proximal_virtual_link">
    <inertial>
      <origin rpy="0 0 0" xyz="0 0 0"/>
      <mass value="1e-4"/>
      <inertia ixx="1e-9" ixy="0.0" ixz="0.0" iyy="1e-9" iyz="0.0" izz="1e-9"/>
    </inertial>
  </link>
  <joint name="left_qbhand_index_proximal_virtual_joint" type="revolute">
    <origin rpy="0 0 0" xyz="0.013 0 0"/>
    <parent link="left_qbhand_index_proximal_virtual_link"/>
    <child link="left_qbhand_index_proximal_link"/>
    <axis xyz="0 0 -1"/>
    <dynamics damping="0.0" friction="0.0"/>
    <limit effort="100" lower="0.0" upper="0.785" velocity="100"/>
    <mimic joint="left_qbhand_index_proximal_joint" multiplier="1.0"/>
  </joint>
  <link name="left_qbhand_index_proximal_link">
    <inertial>
      <mass value="0.0082"/>
      <origin rpy="0 0 0" xyz="8.7707437e-03 -1.7863138e-03 0.0"/>
      <inertia ixx="2.2722068e-07" ixy="1.1586053e-08" ixz="0.0" iyy="5.5947233e-07" iyz="0.0" izz="5.9562195e-07"/>
    </inertial>
    <visual>
      <origin rpy="0 0 0" xyz="0 0 0"/>
      <geometry>
        <mesh filename="../meshes/qbhand/ph_medium.stl" scale="0.001 0.001 0.001"/>
      </geometry>
      <material name="qbhand/proximal">
        <color rgba="0.35 0.35 0.35 1.0"/>
      </material>
    </visual>
    <collision>
      <origin rpy="0 0 0" xyz="0 0 0"/>
      <geometry>
        <mesh filename="../meshes/qbhand/ph_medium.stl" scale="0.001 0.001 0.001"/>
      </geometry>
    </collision>
  </link>
  <joint name="left_qbhand_index_middle_joint" type="revolute">
    <origin rpy="0 0 0" xyz="0.017 0 0"/>
    <parent link="left_qbhand_index_proximal_link"/>
    <child link="left_qbhand_index_middle_virtual_link"/>
    <axis xyz="0 0 -1"/>
    <dynamics damping="0.0" friction="0.0"/>
    <limit effort="100" lower="0.0" upper="0.785" velocity="100"/>
    <mimic joint="left_qbhand_synergy_joint" multiplier="0.785"/>
  </joint>
  <link name="left_qbhand_index_middle_virtual_link">
    <inertial>
      <origin rpy="0 0 0" xyz="0 0 0"/>
      <mass value="1e-4"/>
      <inertia ixx="1e-9" ixy="0.0" ixz="0.0" iyy="1e-9" iyz="0.0" izz="1e-9"/>
    </inertial>
  </link>
  <joint name="left_qbhand_index_middle_virtual_joint" type="revolute">
    <origin rpy="0 0 0" xyz="0.013 0 0"/>
    <parent link="left_qbhand_index_middle_virtual_link"/>
    <child link="left_qbhand_index_middle_link"/>
    <axis xyz="0 0 -1"/>
    <dynamics damping="0.0" friction="0.0"/>
    <limit effort="100" lower="0.0" upper="0.785" velocity="100"/>
    <mimic joint="left_qbhand_index_middle_joint" multiplier="1.0"/>
  </joint>
  <link name="left_qbhand_index_middle_link">
    <inertial>
      <mass value="0.0063"/>
      <origin rpy="0 0 0" xyz="4.7601567e-03 -1.3786947e-03 0.0"/>
      <inertia ixx="1.8024201e-07" ixy="5.756798e-09" ixz="0.0" iyy="2.3516266e-07" iyz="0.0" izz="2.691504e-07"/>
    </inertial>
    <visual>
      <origin rpy="0 0 0" xyz="0 0 0"/>
      <geometry>
        <mesh filename="../meshes/qbhand/ph_short.stl" scale="0.001 0.001 0.001"/>
      </geometry>
      <material name="qbhand/middle">
        <color rgba="0.35 0.35 0.35 1.0"/>
      </material>
    </visual>
    <collision>
      <origin rpy="0 0 0" xyz="0 0 0"/>
      <geometry>
        <mesh filename="../meshes/qbhand/ph_short.stl" scale="0.001 0.001 0.001"/>
      </geometry>
    </collision>
  </link>
  <joint name="left_qbhand_index_distal_joint" type="revolute">
    <origin rpy="0 0 0" xyz="0.009 0 0"/>
    <parent link="left_qbhand_index_middle_link"/>
    <child link="left_qbhand_index_distal_virtual_link"/>
    <axis xyz="0 0 -1"/>
    <dynamics damping="0.0" friction="0.0"/>
    <limit effort="100" lower="0.0" upper="0.785" velocity="100"/>
    <mimic joint="left_qbhand_synergy_joint" multiplier="0.785"/>
  </joint>
  <link name="left_qbhand_index_distal_virtual_link">
    <inertial>
      <origin rpy="0 0 0" xyz="0 0 0"/>
      <mass value="1e-4"/>
      <inertia ixx="1e-9" ixy="0.0" ixz="0.0" iyy="1e-9" iyz="0.0" izz="1e-9"/>
    </inertial>
  </link>
  <joint name="left_qbhand_index_distal_virtual_joint" type="revolute">
    <origin rpy="0 0 0" xyz="0.013 0 0"/>
    <parent link="left_qbhand_index_distal_virtual_link"/>
    <child link="left_qbhand_index_distal_link"/>
    <axis xyz="0 0 -1"/>
    <dynamics damping="0.0" friction="0.0"/>
    <limit effort="100" lower="0.0" upper="0.785" velocity="100"/>
    <mimic joint="left_qbhand_index_distal_joint" multiplier="1.0"/>
  </joint>
  <link name="left_qbhand_index_distal_link">
    <inertial>
      <mass value="0.009"/>
      <origin rpy="0 0 0" xyz="8.8025467e-03 -1.7219289e-03 0.0"/>
      <inertia ixx="2.6586142e-07" ixy="1.2416847e-08" ixz="0.0" iyy="5.9935767e-07" iyz="0.0" izz="6.6781963e-07"/>
    </inertial>
    <visual>
      <origin rpy="0 0 0" xyz="0 0 0"/>
      <geometry>
        <mesh filename="../meshes/qbhand/ph_distal.stl" scale="0.001 0.001 0.001"/>
      </geometry>
      <material name="qbhand/distal">
        <color rgba="0.35 0.35 0.35 1.0"/>
      </material>
    </visual>
    <collision>
      <origin rpy="0 0 0" xyz="0 0 0"/>
      <geometry>
        <mesh filename="../meshes/qbhand/ph_distal.stl" scale="0.001 0.001 0.001"/>
      </geometry>
    </collision>
  </link>
  <joint name="left_qbhand_middle_knuckle_joint" type="revolute">
    <origin rpy="0 3.14 -1.57" xyz="0 0 -0.014"/>
    <parent link="left_qbhand_palm_link"/>
    <child link="left_qbhand_middle_knuckle_link"/>
    <axis xyz="0 0 -1"/>
    <dynamics damping="0.0" friction="0.0"/>
    <limit effort="100" lower="-0.524" upper="0.524" velocity="100"/>
    <mimic joint="left_qbhand_synergy_joint" multiplier="0.0"/>
  </joint>
  <link name="left_qbhand_middle_knuckle_link">
    <inertial>
      <mass value="0.0095"/>
      <origin rpy="0 0 0" xyz="4.2753603e-04  0.0 -1.4321738e-03"/>
      <inertia ixx="6.4337303e-07" ixy="0.0" ixz="-3.9373913e-08" iyy="1.1253771e-06" iyz="0.0" izz="7.2336948e-07"/>
    </inertial>
    <visual>
      <origin rpy="0 0 0" xyz="0 0 0"/>
      <geometry>
        <mesh filename="../meshes/qbhand/ph_knuckle.stl" scale="0.001 0.001 0.001"/>
      </geometry>
      <material name="qbhand/knuckle">
        <color rgba="0.35 0.35 0.35 1.0"/>
      </material>
    </visual>
    <collision>
      <origin rpy="0 0 0" xyz="0 0 0"/>
      <geometry>
        <mesh filename="../meshes/qbhand/ph_knuckle.stl" scale="0.001 0.001 0.001"/>
      </geometry>
    </collision>
  </link>
  <joint name="left_qbhand_middle_proximal_joint" type="revolute">
    <origin rpy="1.57 0 0" xyz="0.009 0 0"/>
    <parent link="left_qbhand_middle_knuckle_link"/>
    <child link="left_qbhand_middle_proximal_virtual_link"/>
    <axis xyz="0 0 -1"/>
    <dynamics damping="0.0" friction="0.0"/>
    <limit effort="100" lower="0.0" upper="0.785" velocity="100"/>
    <mimic joint="left_qbhand_synergy_joint" multiplier="0.785"/>
  </joint>
  <link name="left_qbhand_middle_proximal_virtual_link">
    <inertial>
      <origin rpy="0 0 0" xyz="0 0 0"/>
      <mass value="1e-4"/>
      <inertia ixx="1e-9" ixy="0.0" ixz="0.0" iyy="1e-9" iyz="0.0" izz="1e-9"/>
    </inertial>
  </link>
  <joint name="left_qbhand_middle_proximal_virtual_joint" type="revolute">
    <origin rpy="0 0 0" xyz="0.013 0 0"/>
    <parent link="left_qbhand_middle_proximal_virtual_link"/>
    <child link="left_qbhand_middle_proximal_link"/>
    <axis xyz="0 0 -1"/>
    <dynamics damping="0.0" friction="0.0"/>
    <limit effort="100" lower="0.0" upper="0.785" velocity="100"/>
    <mimic joint="left_qbhand_middle_proximal_joint" multiplier="1.0"/>
  </joint>
  <link name="left_qbhand_middle_proximal_link">
    <inertial>
      <mass value="0.0082"/>
      <origin rpy="0 0 0" xyz="8.7707437e-03 -1.7863138e-03 0.0"/>
      <inertia ixx="2.2722068e-07" ixy="1.1586053e-08" ixz="0.0" iyy="5.5947233e-07" iyz="0.0" izz="5.9562195e-07"/>
    </inertial>
    <visual>
      <origin rpy="0 0 0" xyz="0 0 0"/>
      <geometry>
        <mesh filename="../meshes/qbhand/ph_medium.stl" scale="0.001 0.001 0.001"/>
      </geometry>
      <material name="qbhand/proximal">
        <color rgba="0.35 0.35 0.35 1.0"/>
      </material>
    </visual>
    <collision>
      <origin rpy="0 0 0" xyz="0 0 0"/>
      <geometry>
        <mesh filename="../meshes/qbhand/ph_medium.stl" scale="0.001 0.001 0.001"/>
      </geometry>
    </collision>
  </link>
  <joint name="left_qbhand_middle_middle_joint" type="revolute">
    <origin rpy="0 0 0" xyz="0.017 0 0"/>
    <parent link="left_qbhand_middle_proximal_link"/>
    <child link="left_qbhand_middle_middle_virtual_link"/>
    <axis xyz="0 0 -1"/>
    <dynamics damping="0.0" friction="0.0"/>
    <limit effort="100" lower="0.0" upper="0.785" velocity="100"/>
    <mimic joint="left_qbhand_synergy_joint" multiplier="0.785"/>
  </joint>
  <link name="left_qbhand_middle_middle_virtual_link">
    <inertial>
      <origin rpy="0 0 0" xyz="0 0 0"/>
      <mass value="1e-4"/>
      <inertia ixx="1e-9" ixy="0.0" ixz="0.0" iyy="1e-9" iyz="0.0" izz="1e-9"/>
    </inertial>
  </link>
  <joint name="left_qbhand_middle_middle_virtual_joint" type="revolute">
    <origin rpy="0 0 0" xyz="0.013 0 0"/>
    <parent link="left_qbhand_middle_middle_virtual_link"/>
    <child link="left_qbhand_middle_middle_link"/>
    <axis xyz="0 0 -1"/>
    <dynamics damping="0.0" friction="0.0"/>
    <limit effort="100" lower="0.0" upper="0.785" velocity="100"/>
    <mimic joint="left_qbhand_middle_middle_joint" multiplier="1.0"/>
  </joint>
  <link name="left_qbhand_middle_middle_link">
    <inertial>
      <mass value="0.0063"/>
      <origin rpy="0 0 0" xyz="4.7601567e-03 -1.3786947e-03 0.0"/>
      <inertia ixx="1.8024201e-07" ixy="5.756798e-09" ixz="0.0" iyy="2.3516266e-07" iyz="0.0" izz="2.691504e-07"/>
    </inertial>
    <visual>
      <origin rpy="0 0 0" xyz="0 0 0"/>
      <geometry>
        <mesh filename="../meshes/qbhand/ph_short.stl" scale="0.001 0.001 0.001"/>
      </geometry>
      <material name="qbhand/middle">
        <color rgba="0.35 0.35 0.35 1.0"/>
      </material>
    </visual>
    <collision>
      <origin rpy="0 0 0" xyz="0 0 0"/>
      <geometry>
        <mesh filename="../meshes/qbhand/ph_short.stl" scale="0.001 0.001 0.001"/>
      </geometry>
    </collision>
  </link>
  <joint name="left_qbhand_middle_distal_joint" type="revolute">
    <origin rpy="0 0 0" xyz="0.009 0 0"/>
    <parent link="left_qbhand_middle_middle_link"/>
    <child link="left_qbhand_middle_distal_virtual_link"/>
    <axis xyz="0 0 -1"/>
    <dynamics damping="0.0" friction="0.0"/>
    <limit effort="100" lower="0.0" upper="0.785" velocity="100"/>
    <mimic joint="left_qbhand_synergy_joint" multiplier="0.785"/>
  </joint>
  <link name="left_qbhand_middle_distal_virtual_link">
    <inertial>
      <origin rpy="0 0 0" xyz="0 0 0"/>
      <mass value="1e-4"/>
      <inertia ixx="1e-9" ixy="0.0" ixz="0.0" iyy="1e-9" iyz="0.0" izz="1e-9"/>
    </inertial>
  </link>
  <joint name="left_qbhand_middle_distal_virtual_joint" type="revolute">
    <origin rpy="0 0 0" xyz="0.013 0 0"/>
    <parent link="left_qbhand_middle_distal_virtual_link"/>
    <child link="left_qbhand_middle_distal_link"/>
    <axis xyz="0 0 -1"/>
    <dynamics damping="0.0" friction="0.0"/>
    <limit effort="100" lower="0.0" upper="0.785" velocity="100"/>
    <mimic joint="left_qbhand_middle_distal_joint" multiplier="1.0"/>
  </joint>
  <link name="left_qbhand_middle_distal_link">
    <inertial>
      <mass value="0.009"/>
      <origin rpy="0 0 0" xyz="8.8025467e-03 -1.7219289e-03 0.0"/>
      <inertia ixx="2.6586142e-07" ixy="1.2416847e-08" ixz="0.0" iyy="5.9935767e-07" iyz="0.0" izz="6.6781963e-07"/>
    </inertial>
    <visual>
      <origin rpy="0 0 0" xyz="0 0 0"/>
      <geometry>
        <mesh filename="../meshes/qbhand/ph_distal.stl" scale="0.001 0.001 0.001"/>
      </geometry>
      <material name="qbhand/distal">
        <color rgba="0.35 0.35 0.35 1.0"/>
      </material>
    </visual>
    <collision>
      <origin rpy="0 0 0" xyz="0 0 0"/>
      <geometry>
        <mesh filename="../meshes/qbhand/ph_distal.stl" scale="0.001 0.001 0.001"/>
      </geometry>
    </collision>
  </link>
  <joint name="left_qbhand_ring_knuckle_joint" type="revolute">
    <origin rpy="0 3.14 -1.57" xyz="0.02 -0.007 -0.014"/>
    <parent link="left_qbhand_palm_link"/>
    <child link="left_qbhand_ring_knuckle_link"/>
    <axis xyz="0 0 -1"/>
    <dynamics damping="0.0" friction="0.0"/>
    <limit effort="100" lower="-0.524" upper="0.524" velocity="100"/>
    <mimic joint="left_qbhand_synergy_joint" multiplier="-0.2"/>
  </joint>
  <link name="left_qbhand_ring_knuckle_link">
    <inertial>
      <mass value="0.0095"/>
      <origin rpy="0 0 0" xyz="4.2753603e-04  0.0 -1.4321738e-03"/>
      <inertia ixx="6.4337303e-07" ixy="0.0" ixz="-3.9373913e-08" iyy="1.1253771e-06" iyz="0.0" izz="7.2336948e-07"/>
    </inertial>
    <visual>
      <origin rpy="0 0 0" xyz="0 0 0"/>
      <geometry>
        <mesh filename="../meshes/qbhand/ph_knuckle.stl" scale="0.001 0.001 0.001"/>
      </geometry>
      <material name="qbhand/knuckle">
        <color rgba="0.35 0.35 0.35 1.0"/>
      </material>
    </visual>
    <collision>
      <origin rpy="0 0 0" xyz="0 0 0"/>
      <geometry>
        <mesh filename="../meshes/qbhand/ph_knuckle.stl" scale="0.001 0.001 0.001"/>
      </geometry>
    </collision>
  </link>
  <joint name="left_qbhand_ring_proximal_joint" type="revolute">
    <origin rpy="1.57 0 0" xyz="0.009 0 0"/>
    <parent link="left_qbhand_ring_knuckle_link"/>
    <child link="left_qbhand_ring_proximal_virtual_link"/>
    <axis xyz="0 0 -1"/>
    <dynamics damping="0.0" friction="0.0"/>
    <limit effort="100" lower="0.0" upper="0.785" velocity="100"/>
    <mimic joint="left_qbhand_synergy_joint" multiplier="0.785"/>
  </joint>
  <link name="left_qbhand_ring_proximal_virtual_link">
    <inertial>
      <origin rpy="0 0 0" xyz="0 0 0"/>
      <mass value="1e-4"/>
      <inertia ixx="1e-9" ixy="0.0" ixz="0.0" iyy="1e-9" iyz="0.0" izz="1e-9"/>
    </inertial>
  </link>
  <joint name="left_qbhand_ring_proximal_virtual_joint" type="revolute">
    <origin rpy="0 0 0" xyz="0.013 0 0"/>
    <parent link="left_qbhand_ring_proximal_virtual_link"/>
    <child link="left_qbhand_ring_proximal_link"/>
    <axis xyz="0 0 -1"/>
    <dynamics damping="0.0" friction="0.0"/>
    <limit effort="100" lower="0.0" upper="0.785" velocity="100"/>
    <mimic joint="left_qbhand_ring_proximal_joint" multiplier="1.0"/>
  </joint>
  <link name="left_qbhand_ring_proximal_link">
    <inertial>
      <mass value="0.0082"/>
      <origin rpy="0 0 0" xyz="8.7707437e-03 -1.7863138e-03 0.0"/>
      <inertia ixx="2.2722068e-07" ixy="1.1586053e-08" ixz="0.0" iyy="5.5947233e-07" iyz="0.0" izz="5.9562195e-07"/>
    </inertial>
    <visual>
      <origin rpy="0 0 0" xyz="0 0 0"/>
      <geometry>
        <mesh filename="../meshes/qbhand/ph_medium.stl" scale="0.001 0.001 0.001"/>
      </geometry>
      <material name="qbhand/proximal">
        <color rgba="0.35 0.35 0.35 1.0"/>
      </material>
    </visual>
    <collision>
      <origin rpy="0 0 0" xyz="0 0 0"/>
      <geometry>
        <mesh filename="../meshes/qbhand/ph_medium.stl" scale="0.001 0.001 0.001"/>
      </geometry>
    </collision>
  </link>
  <joint name="left_qbhand_ring_middle_joint" type="revolute">
    <origin rpy="0 0 0" xyz="0.017 0 0"/>
    <parent link="left_qbhand_ring_proximal_link"/>
    <child link="left_qbhand_ring_middle_virtual_link"/>
    <axis xyz="0 0 -1"/>
    <dynamics damping="0.0" friction="0.0"/>
    <limit effort="100" lower="0.0" upper="0.785" velocity="100"/>
    <mimic joint="left_qbhand_synergy_joint" multiplier="0.785"/>
  </joint>
  <link name="left_qbhand_ring_middle_virtual_link">
    <inertial>
      <origin rpy="0 0 0" xyz="0 0 0"/>
      <mass value="1e-4"/>
      <inertia ixx="1e-9" ixy="0.0" ixz="0.0" iyy="1e-9" iyz="0.0" izz="1e-9"/>
    </inertial>
  </link>
  <joint name="left_qbhand_ring_middle_virtual_joint" type="revolute">
    <origin rpy="0 0 0" xyz="0.013 0 0"/>
    <parent link="left_qbhand_ring_middle_virtual_link"/>
    <child link="left_qbhand_ring_middle_link"/>
    <axis xyz="0 0 -1"/>
    <dynamics damping="0.0" friction="0.0"/>
    <limit effort="100" lower="0.0" upper="0.785" velocity="100"/>
    <mimic joint="left_qbhand_ring_middle_joint" multiplier="1.0"/>
  </joint>
  <link name="left_qbhand_ring_middle_link">
    <inertial>
      <mass value="0.0063"/>
      <origin rpy="0 0 0" xyz="4.7601567e-03 -1.3786947e-03 0.0"/>
      <inertia ixx="1.8024201e-07" ixy="5.756798e-09" ixz="0.0" iyy="2.3516266e-07" iyz="0.0" izz="2.691504e-07"/>
    </inertial>
    <visual>
      <origin rpy="0 0 0" xyz="0 0 0"/>
      <geometry>
        <mesh filename="../meshes/qbhand/ph_short.stl" scale="0.001 0.001 0.001"/>
      </geometry>
      <material name="qbhand/middle">
        <color rgba="0.35 0.35 0.35 1.0"/>
      </material>
    </visual>
    <collision>
      <origin rpy="0 0 0" xyz="0 0 0"/>
      <geometry>
        <mesh filename="../meshes/qbhand/ph_short.stl" scale="0.001 0.001 0.001"/>
      </geometry>
    </collision>
  </link>
  <joint name="left_qbhand_ring_distal_joint" type="revolute">
    <origin rpy="0 0 0" xyz="0.009 0 0"/>
    <parent link="left_qbhand_ring_middle_link"/>
    <child link="left_qbhand_ring_distal_virtual_link"/>
    <axis xyz="0 0 -1"/>
    <dynamics damping="0.0" friction="0.0"/>
    <limit effort="100" lower="0.0" upper="0.785" velocity="100"/>
    <mimic joint="left_qbhand_synergy_joint" multiplier="0.785"/>
  </joint>
  <link name="left_qbhand_ring_distal_virtual_link">
    <inertial>
      <origin rpy="0 0 0" xyz="0 0 0"/>
      <mass value="1e-4"/>
      <inertia ixx="1e-9" ixy="0.0" ixz="0.0" iyy="1e-9" iyz="0.0" izz="1e-9"/>
    </inertial>
  </link>
  <joint name="left_qbhand_ring_distal_virtual_joint" type="revolute">
    <origin rpy="0 0 0" xyz="0.013 0 0"/>
    <parent link="left_qbhand_ring_distal_virtual_link"/>
    <child link="left_qbhand_ring_distal_link"/>
    <axis xyz="0 0 -1"/>
    <dynamics damping="0.0" friction="0.0"/>
    <limit effort="100" lower="0.0" upper="0.785" velocity="100"/>
    <mimic joint="left_qbhand_ring_distal_joint" multiplier="1.0"/>
  </joint>
  <link name="left_qbhand_ring_distal_link">
    <inertial>
      <mass value="0.009"/>
      <origin rpy="0 0 0" xyz="8.8025467e-03 -1.7219289e-03 0.0"/>
      <inertia ixx="2.6586142e-07" ixy="1.2416847e-08" ixz="0.0" iyy="5.9935767e-07" iyz="0.0" izz="6.6781963e-07"/>
    </inertial>
    <visual>
      <origin rpy="0 0 0" xyz="0 0 0"/>
      <geometry>
        <mesh filename="../meshes/qbhand/ph_distal.stl" scale="0.001 0.001 0.001"/>
      </geometry>
      <material name="qbhand/distal">
        <color rgba="0.35 0.35 0.35 1.0"/>
      </material>
    </visual>
    <collision>
      <origin rpy="0 0 0" xyz="0 0 0"/>
      <geometry>
        <mesh filename="../meshes/qbhand/ph_distal.stl" scale="0.001 0.001 0.001"/>
      </geometry>
    </collision>
  </link>
  <joint name="left_qbhand_little_knuckle_joint" type="revolute">
    <origin rpy="0 3.14 -1.57" xyz="0.04 -0.012 -0.014"/>
    <parent link="left_qbhand_palm_link"/>
    <child link="left_qbhand_little_knuckle_link"/>
    <axis xyz="0 0 -1"/>
    <dynamics damping="0.0" friction="0.0"/>
    <limit effort="100" lower="-0.524" upper="0.524" velocity="100"/>
    <mimic joint="left_qbhand_synergy_joint" multiplier="-0.4"/>
  </joint>
  <link name="left_qbhand_little_knuckle_link">
    <inertial>
      <mass value="0.0095"/>
      <origin rpy="0 0 0" xyz="4.2753603e-04  0.0 -1.4321738e-03"/>
      <inertia ixx="6.4337303e-07" ixy="0.0" ixz="-3.9373913e-08" iyy="1.1253771e-06" iyz="0.0" izz="7.2336948e-07"/>
    </inertial>
    <visual>
      <origin rpy="0 0 0" xyz="0 0 0"/>
      <geometry>
        <mesh filename="../meshes/qbhand/ph_knuckle.stl" scale="0.001 0.001 0.001"/>
      </geometry>
      <material name="qbhand/knuckle">
        <color rgba="0.35 0.35 0.35 1.0"/>
      </material>
    </visual>
    <collision>
      <origin rpy="0 0 0" xyz="0 0 0"/>
      <geometry>
        <mesh filename="../meshes/qbhand/ph_knuckle.stl" scale="0.001 0.001 0.001"/>
      </geometry>
    </collision>
  </link>
  <joint name="left_qbhand_little_proximal_joint" type="revolute">
    <origin rpy="1.57 0 0" xyz="0.009 0 0"/>
    <parent link="left_qbhand_little_knuckle_link"/>
    <child link="left_qbhand_little_proximal_virtual_link"/>
    <axis xyz="0 0 -1"/>
    <dynamics damping="0.0" friction="0.0"/>
    <limit effort="100" lower="0.0" upper="0.785" velocity="100"/>
    <mimic joint="left_qbhand_synergy_joint" multiplier="0.785"/>
  </joint>
  <link name="left_qbhand_little_proximal_virtual_link">
    <inertial>
      <origin rpy="0 0 0" xyz="0 0 0"/>
      <mass value="1e-4"/>
      <inertia ixx="1e-9" ixy="0.0" ixz="0.0" iyy="1e-9" iyz="0.0" izz="1e-9"/>
    </inertial>
  </link>
  <joint name="left_qbhand_little_proximal_virtual_joint" type="revolute">
    <origin rpy="0 0 0" xyz="0.013 0 0"/>
    <parent link="left_qbhand_little_proximal_virtual_link"/>
    <child link="left_qbhand_little_proximal_link"/>
    <axis xyz="0 0 -1"/>
    <dynamics damping="0.0" friction="0.0"/>
    <limit effort="100" lower="0.0" upper="0.785" velocity="100"/>
    <mimic joint="left_qbhand_little_proximal_joint" multiplier="1.0"/>
  </joint>
  <link name="left_qbhand_little_proximal_link">
    <inertial>
      <mass value="0.0063"/>
      <origin rpy="0 0 0" xyz="4.7601567e-03 -1.3786947e-03 0.0"/>
      <inertia ixx="1.8024201e-07" ixy="5.756798e-09" ixz="0.0" iyy="2.3516266e-07" iyz="0.0" izz="2.691504e-07"/>
    </inertial>
    <visual>
      <origin rpy="0 0 0" xyz="0 0 0"/>
      <geometry>
        <mesh filename="../meshes/qbhand/ph_short.stl" scale="0.001 0.001 0.001"/>
      </geometry>
      <material name="qbhand/proximal">
        <color rgba="0.35 0.35 0.35 1.0"/>
      </material>
    </visual>
    <collision>
      <origin rpy="0 0 0" xyz="0 0 0"/>
      <geometry>
        <mesh filename="../meshes/qbhand/ph_short.stl" scale="0.001 0.001 0.001"/>
      </geometry>
    </collision>
  </link>
  <joint name="left_qbhand_little_middle_joint" type="revolute">
    <origin rpy="0 0 0" xyz="0.009 0 0"/>
    <parent link="left_qbhand_little_proximal_link"/>
    <child link="left_qbhand_little_middle_virtual_link"/>
    <axis xyz="0 0 -1"/>
    <dynamics damping="0.0" friction="0.0"/>
    <limit effort="100" lower="0.0" upper="0.785" velocity="100"/>
    <mimic joint="left_qbhand_synergy_joint" multiplier="0.785"/>
  </joint>
  <link name="left_qbhand_little_middle_virtual_link">
    <inertial>
      <origin rpy="0 0 0" xyz="0 0 0"/>
      <mass value="1e-4"/>
      <inertia ixx="1e-9" ixy="0.0" ixz="0.0" iyy="1e-9" iyz="0.0" izz="1e-9"/>
    </inertial>
  </link>
  <joint name="left_qbhand_little_middle_virtual_joint" type="revolute">
    <origin rpy="0 0 0" xyz="0.013 0 0"/>
    <parent link="left_qbhand_little_middle_virtual_link"/>
    <child link="left_qbhand_little_middle_link"/>
    <axis xyz="0 0 -1"/>
    <dynamics damping="0.0" friction="0.0"/>
    <limit effort="100" lower="0.0" upper="0.785" velocity="100"/>
    <mimic joint="left_qbhand_little_middle_joint" multiplier="1.0"/>
  </joint>
  <link name="left_qbhand_little_middle_link">
    <inertial>
      <mass value="0.0063"/>
      <origin rpy="0 0 0" xyz="4.7601567e-03 -1.3786947e-03 0.0"/>
      <inertia ixx="1.8024201e-07" ixy="5.756798e-09" ixz="0.0" iyy="2.3516266e-07" iyz="0.0" izz="2.691504e-07"/>
    </inertial>
    <visual>
      <origin rpy="0 0 0" xyz="0 0 0"/>
      <geometry>
        <mesh filename="../meshes/qbhand/ph_short.stl" scale="0.001 0.001 0.001"/>
      </geometry>
      <material name="qbhand/middle">
        <color rgba="0.35 0.35 0.35 1.0"/>
      </material>
    </visual>
    <collision>
      <origin rpy="0 0 0" xyz="0 0 0"/>
      <geometry>
        <mesh filename="../meshes/qbhand/ph_short.stl" scale="0.001 0.001 0.001"/>
      </geometry>
    </collision>
  </link>
  <joint name="left_qbhand_little_distal_joint" type="revolute">
    <origin rpy="0 0 0" xyz="0.009 0 0"/>
    <parent link="left_qbhand_little_middle_link"/>
    <child link="left_qbhand_little_distal_virtual_link"/>
    <axis xyz="0 0 -1"/>
    <dynamics damping="0.0" friction="0.0"/>
    <limit effort="100" lower="0.0" upper="0.785" velocity="100"/>
    <mimic joint="left_qbhand_synergy_joint" multiplier="0.785"/>
  </joint>
  <link name="left_qbhand_little_distal_virtual_link">
    <inertial>
      <origin rpy="0 0 0" xyz="0 0 0"/>
      <mass value="1e-4"/>
      <inertia ixx="1e-9" ixy="0.0" ixz="0.0" iyy="1e-9" iyz="0.0" izz="1e-9"/>
    </inertial>
  </link>
  <joint name="left_qbhand_little_distal_virtual_joint" type="revolute">
    <origin rpy="0 0 0" xyz="0.013 0 0"/>
    <parent link="left_qbhand_little_distal_virtual_link"/>
    <child link="left_qbhand_little_distal_link"/>
    <axis xyz="0 0 -1"/>
    <dynamics damping="0.0" friction="0.0"/>
    <limit effort="100" lower="0.0" upper="0.785" velocity="100"/>
    <mimic joint="left_qbhand_little_distal_joint" multiplier="1.0"/>
  </joint>
  <link name="left_qbhand_little_distal_link">
    <inertial>
      <mass value="0.009"/>
      <origin rpy="0 0 0" xyz="8.8025467e-03 -1.7219289e-03 0.0"/>
      <inertia ixx="2.6586142e-07" ixy="1.2416847e-08" ixz="0.0" iyy="5.9935767e-07" iyz="0.0" izz="6.6781963e-07"/>
    </inertial>
    <visual>
      <origin rpy="0 0 0" xyz="0 0 0"/>
      <geometry>
        <mesh filename="../meshes/qbhand/ph_distal.stl" scale="0.001 0.001 0.001"/>
      </geometry>
      <material name="qbhand/distal">
        <color rgba="0.35 0.35 0.35 1.0"/>
      </material>
    </visual>
    <collision>
      <origin rpy="0 0 0" xyz="0 0 0"/>
      <geometry>
        <mesh filename="../meshes/qbhand/ph_distal.stl" scale="0.001 0.001 0.001"/>
      </geometry>
    </collision>
  </link>
  <joint name="left_qbhand_end_effector_fixed_joint" type="fixed">
    <origin rpy="-1.57 0 0" xyz="-0.03 0.060 0.142"/>
    <parent link="left_qbhand_base_link"/>
    <child link="left_qbhand_end_effector_link"/>
  </joint>
  <link name="left_qbhand_end_effector_link"/>
  <joint name="panda_right_joint_torso_end" type="fixed">
    <parent link="torso_end"/>
    <child link="panda_right_link0"/>
    <origin rpy="1.3685238493647454 0.913218224774749 0.6168337646727412" xyz="-0.08537 -0.07009 0.2535"/>
  </joint>
  <link name="panda_right_link0">
    <visual>
      <origin rpy="0 0 0" xyz="0 0 0"/>
      <geometry>
        <mesh filename="../meshes/franka/visual/link0_visual.stl"/>
      </geometry>
    </visual>
    <collision>
      <origin rpy="0 0 0" xyz="0 0 0"/>
      <geometry>
        <mesh filename="../meshes/franka/collision/link0.stl"/>
      </geometry>
    </collision>
    <inertial>
      <!-- Estimated guesses from CAD -->
      <origin rpy="0 0 0" xyz="-0.041018 -0.00014 0.049974"/>
      <mass value="0.629769"/>
      <inertia ixx="0.00315" ixy="8.2904E-07" ixz="0.00015" iyy="0.00388" iyz="8.2299E-06" izz="0.004285"/>
    </inertial>
  </link>
  <link name="panda_right_link1">
    <visual>
      <origin rpy="0 0 0" xyz="0 0 0"/>
      <geometry>
        <mesh filename="../meshes/franka/visual/link1_visual.stl"/>
      </geometry>
    </visual>
    <collision>
      <origin rpy="0 0 0" xyz="0 0 0"/>
      <geometry>
        <mesh filename="../meshes/franka/collision/link1.stl"/>
      </geometry>
    </collision>
    <inertial>
      <origin rpy="0 0 0" xyz="0.003875 0.002081 -0.04762"/>
      <mass value="4.970684"/>
      <inertia ixx="0.70337" ixy="-0.00013900" ixz="0.0067720" iyy="0.70661" iyz="0.019169" izz="0.0091170"/>
    </inertial>
  </link>
  <joint name="panda_right_joint1" type="revolute">
    <safety_controller k_position="100.0" k_velocity="40.0" soft_lower_limit="-2.8973" soft_upper_limit="2.8973"/>
    <origin rpy="0 0 0" xyz="0 0 0.333"/>
    <parent link="panda_right_link0"/>
    <child link="panda_right_link1"/>
    <axis xyz="0 0 1"/>
    <limit acceleration="15" effort="87" lower="-2.8973" upper="2.8973" velocity="2.1750"/>
    <dynamics D="1" K="7000" damping="0.003" friction="0.0" mu_coulomb="0" mu_viscous="16"/>
  </joint>
  <link name="panda_right_link2">
    <visual>
      <origin rpy="0 0 0" xyz="0 0 0"/>
      <geometry>
        <mesh filename="../meshes/franka/visual/link2_visual.stl"/>
      </geometry>
    </visual>
    <collision>
      <origin rpy="0 0 0" xyz="0 0 0"/>
      <geometry>
        <mesh filename="../meshes/franka/collision/link2.stl"/>
      </geometry>
    </collision>
    <inertial>
      <origin rpy="0 0 0" xyz=" -0.003141 -0.02872  0.003495"/>
      <mass value="0.646926"/>
      <inertia ixx="0.0079620" ixy="-3.9250e-3" ixz="1.0254e-02" iyy="2.8110e-02" iyz="7.0400e-04" izz="2.5995e-02"/>
    </inertial>
  </link>
  <joint name="panda_right_joint2" type="revolute">
    <safety_controller k_position="100.0" k_velocity="40.0" soft_lower_limit="-1.7628" soft_upper_limit="1.7628"/>
    <origin rpy="-1.5707963267948966 0 0" xyz="0 0 0"/>
    <parent link="panda_right_link1"/>
    <child link="panda_right_link2"/>
    <axis xyz="0 0 1"/>
    <limit acceleration="7.5" effort="87" lower="-1.7628" upper="1.7628" velocity="2.1750"/>
    <dynamics D="1" K="7000" damping="0.003" friction="0.0" mu_coulomb="0" mu_viscous="16"/>
  </joint>
  <link name="panda_right_link3">
    <visual>
      <origin rpy="0 0 0" xyz="0 0 0"/>
      <geometry>
        <mesh filename="../meshes/franka/visual/link3_visual.stl"/>
      </geometry>
    </visual>
    <collision>
      <origin rpy="0 0 0" xyz="0 0 0"/>
      <geometry>
        <mesh filename="../meshes/franka/collision/link3.stl"/>
      </geometry>
    </collision>
    <inertial>
      <origin rpy="0 0 0" xyz="2.7518e-02 3.9252e-02 -6.6502e-02"/>
      <mass value="3.228604"/>
      <inertia ixx="3.7242e-02" ixy="-4.7610e-03" ixz="-1.1396e-02" iyy="3.6155e-02" iyz="-1.2805e-02" izz="1.0830e-02"/>
    </inertial>
  </link>
  <joint name="panda_right_joint3" type="revolute">
    <safety_controller k_position="100.0" k_velocity="40.0" soft_lower_limit="-2.8973" soft_upper_limit="2.8973"/>
    <origin rpy="1.5707963267948966 0 0" xyz="0 -0.316 0"/>
    <parent link="panda_right_link2"/>
    <child link="panda_right_link3"/>
    <axis xyz="0 0 1"/>
    <limit acceleration="12.5" effort="87" lower="-2.8973" upper="2.8973" velocity="2.1750"/>
    <dynamics D="1" K="7000" damping="0.003" friction="0.0" mu_coulomb="0" mu_viscous="16"/>
  </joint>
  <link name="panda_right_link4">
    <visual>
      <origin rpy="0 0 0" xyz="0 0 0"/>
      <geometry>
        <mesh filename="../meshes/franka/visual/link4_visual.stl"/>
      </geometry>
    </visual>
    <collision>
      <origin rpy="0 0 0" xyz="0 0 0"/>
      <geometry>
        <mesh filename="../meshes/franka/collision/link4.stl"/>
      </geometry>
    </collision>
    <inertial>
      <origin rpy="0 0 0" xyz="-5.317e-02 1.04419e-01 2.7454e-02"/>
      <mass value="3.587895"/>
      <inertia ixx="2.5853e-02" ixy="7.7960e-03" ixz="-1.3320e-03" iyy="1.9552e-02" iyz="8.6410e-03" izz="2.8323e-02"/>
    </inertial>
  </link>
  <joint name="panda_right_joint4" type="revolute">
    <safety_controller k_position="100.0" k_velocity="40.0" soft_lower_limit="-3.0718" soft_upper_limit="-0.0698"/>
    <origin rpy="1.5707963267948966 0 0" xyz="0.0825 0 0"/>
    <parent link="panda_right_link3"/>
    <child link="panda_right_link4"/>
    <axis xyz="0 0 1"/>
    <limit acceleration="12.5" effort="87" lower="-3.0718" upper="-0.0698" velocity="2.1750"/>
    <dynamics D="1" K="7000" damping="0.003" friction="0.0" mu_coulomb="0" mu_viscous="16"/>
  </joint>
  <link name="panda_right_link5">
    <visual>
      <origin rpy="0 0 0" xyz="0 0 0"/>
      <geometry>
        <mesh filename="../meshes/franka/visual/link5_visual.stl"/>
      </geometry>
    </visual>
    <collision>
      <origin rpy="0 0 0" xyz="0 0 0"/>
      <geometry>
        <mesh filename="../meshes/franka/collision/link5.stl"/>
      </geometry>
    </collision>
    <inertial>
      <origin rpy="0 0 0" xyz="-1.1953e-02 4.1065e-02 -3.8437e-02"/>
      <mass value="1.225946"/>
      <inertia ixx="3.5549e-02" ixy="-2.1170e-03" ixz="-4.0370e-03" iyy="2.9474e-02" iyz="2.2900e-04" izz="8.6270e-03"/>
    </inertial>
  </link>
  <joint name="panda_right_joint5" type="revolute">
    <safety_controller k_position="100.0" k_velocity="40.0" soft_lower_limit="-2.8973" soft_upper_limit="2.8973"/>
    <origin rpy="-1.5707963267948966 0 0" xyz="-0.0825 0.384 0"/>
    <parent link="panda_right_link4"/>
    <child link="panda_right_link5"/>
    <axis xyz="0 0 1"/>
    <limit acceleration="15" effort="12" lower="-2.8973" upper="2.8973" velocity="2.6100"/>
    <dynamics D="1" K="7000" damping="0.003" friction="0.0" mu_coulomb="0" mu_viscous="16"/>
  </joint>
  <link name="panda_right_link6">
    <visual>
      <origin rpy="0 0 0" xyz="0 0 0"/>
      <geometry>
        <mesh filename="../meshes/franka/visual/link6_visual.stl"/>
      </geometry>
    </visual>
    <collision>
      <origin rpy="0 0 0" xyz="0 0 0"/>
      <geometry>
        <mesh filename="../meshes/franka/collision/link6.stl"/>
      </geometry>
    </collision>
    <inertial>
      <origin rpy="0 0 0" xyz="6.0149e-02 -1.4117e-02 -1.0517e-02"/>
      <mass value="1.666555"/>
      <inertia ixx="1.9640e-03" ixy="1.0900e-04" ixz="-1.1580e-03" iyy="4.3540e-03" iyz="3.4100e-04" izz="5.4330e-03"/>
    </inertial>
  </link>
  <joint name="panda_right_joint6" type="revolute">
    <safety_controller k_position="100.0" k_velocity="40.0" soft_lower_limit="-0.0175" soft_upper_limit="3.7525"/>
    <origin rpy="1.5707963267948966 0 0" xyz="0 0 0"/>
    <parent link="panda_right_link5"/>
    <child link="panda_right_link6"/>
    <axis xyz="0 0 1"/>
    <limit acceleration="20" effort="12" lower="-0.0175" upper="3.7525" velocity="2.6100"/>
    <dynamics D="1" K="7000" damping="0.003" friction="0.0" mu_coulomb="0" mu_viscous="16"/>
  </joint>
  <link name="panda_right_link7">
    <visual>
      <origin rpy="0 0 0" xyz="0 0 0"/>
      <geometry>
        <mesh filename="../meshes/franka/visual/link7_visual.stl"/>
      </geometry>
    </visual>
    <collision>
      <origin rpy="0 0 0" xyz="0 0 0"/>
      <geometry>
        <mesh filename="../meshes/franka/collision/link7.stl"/>
      </geometry>
    </collision>
    <inertial>
      <origin rpy="0 0 0" xyz="1.0517e-02 -4.252e-03 6.1597e-02"/>
      <mass value="7.35522e-01"/>
      <inertia ixx="1.2516e-02" ixy="-4.2800e-04" ixz="-1.1960e-03" iyy="1.0027e-02" iyz="-7.4100e-04" izz="4.8150e-03"/>
    </inertial>
  </link>
  <joint name="panda_right_joint7" type="revolute">
    <safety_controller k_position="100.0" k_velocity="40.0" soft_lower_limit="-2.8973" soft_upper_limit="2.8973"/>
    <origin rpy="1.5707963267948966 0 0" xyz="0.088 0 0"/>
    <parent link="panda_right_link6"/>
    <child link="panda_right_link7"/>
    <axis xyz="0 0 1"/>
    <limit acceleration="20" effort="12" lower="-2.8973" upper="2.8973" velocity="2.6100"/>
    <dynamics D="1" K="7000" damping="0.003" friction="0.0" mu_coulomb="0" mu_viscous="16"/>
  </joint>
  <joint name="panda_right_end_effector_joint" type="fixed">
    <parent link="panda_right_link7"/>
    <child link="right_hand_root_link"/>
    <origin rpy="0 0 -0.7853981633974483" xyz="0 0 0.107"/>
  </joint>
  <link name="right_hand_root_link"/>
  <joint name="right_qbhand_flange_joint" type="fixed">
    <origin rpy="0 0 0.78" xyz="0 0 0"/>
    <parent link="right_hand_root_link"/>
    <child link="flange90_r"/>
  </joint>
  <link name="flange90_r">
    <visual>
      <origin rpy="0 0 0" xyz="0 0 0"/>
      <geometry>
        <mesh filename="../meshes/clover/visual/flange90_zup_visual.stl"/>
      </geometry>
    </visual>
    <collision>
      <origin rpy="0 0 0" xyz="0 0 0"/>
      <geometry>
        <mesh filename="../meshes/clover/collision/flange90_zup.STL"/>
      </geometry>
    </collision>
  </link>
  <joint name="right_qbhand_base_fixed_joint" type="fixed">
    <origin rpy="1.5708 0 1.5708" xyz="0.046 0 0.038"/>
    <parent link="flange90_r"/>
    <child link="right_qbhand_base_link"/>
  </joint>
  <link name="right_qbhand_base_link">
    <inertial>
      <mass value="0.45"/>
      <origin rpy="0 0 0" xyz="0.0030 -0.0449 0.0135"/>
      <inertia ixx="0.00045" ixy="0.0" ixz="0.0" iyy="0.0006" iyz="0.0" izz="0.00025"/>
    </inertial>
    <visual>
      <origin rpy="0 0 0" xyz="0 0 0"/>
      <geometry>
        <mesh filename="../meshes/qbhand/flange_iso_04.stl" scale="0.001 0.001 0.001"/>
      </geometry>
      <material name="qbhand/base"/>
    </visual>
    <collision>
      <origin rpy="0 0 0" xyz="0 0 0"/>
      <geometry>
        <mesh filename="../meshes/qbhand/flange_iso_04.stl" scale="0.001 0.001 0.001"/>
      </geometry>
    </collision>
  </link>
  <joint name="right_qbhand_palm_fixed_joint" type="fixed">
    <origin rpy="1.57 0 0" xyz="-0.0045 0.0145 0.144"/>
    <parent link="right_qbhand_base_link"/>
    <child link="right_qbhand_palm_link"/>
  </joint>
  <link name="right_qbhand_palm_link">
    <inertial>
      <mass value="0.45"/>
      <origin rpy="0 0 0" xyz="0.0030 -0.0449 0.0135"/>
      <inertia ixx="0.00045" ixy="0.0" ixz="0.0" iyy="0.0006" iyz="0.0" izz="0.00025"/>
    </inertial>
    <visual>
      <origin rpy="0 0 0" xyz="0 0 0"/>
      <geometry>
        <mesh filename="../meshes/qbhand/palm_pinch_r.stl" scale="0.001 0.001 0.001"/>
      </geometry>
      <material name="qbhand/palm"/>
    </visual>
    <collision>
      <origin rpy="0 0 0" xyz="0 0 0"/>
      <geometry>
        <mesh filename="../meshes/qbhand/palm_pinch_r.stl" scale="0.001 0.001 0.001"/>
      </geometry>
    </collision>
  </link>
  <joint name="right_qbhand_synergy_joint" type="fixed">
    <origin rpy="0 0 0" xyz="0 0 0"/>
    <parent link="right_qbhand_palm_link"/>
    <child link="right_qbhand_synergy_tendon_virtual_link"/>
    <axis xyz="0 0 1"/>
    <dynamics damping="0.0" friction="0.0"/>
    <limit effort="100" lower="0.0" upper="1.0" velocity="100"/>
  </joint>
  <transmission name="right_qbhand_synergy_transmission">
    <type>transmission_interface/qbMoveTransmission</type>
    <joint name="right_qbhand_synergy_joint">
      <hardwareInterface>hardware_interface/EffortJointInterface</hardwareInterface>
    </joint>
    <actuator name="right_qbhand_synergy_joint">
      <hardwareInterface>hardware_interface/EffortJointInterface</hardwareInterface>
    </actuator>
  </transmission>
  <link name="right_qbhand_synergy_tendon_virtual_link">
    <inertial>
      <origin rpy="0 0 0" xyz="0 0 0"/>
      <mass value="1e-4"/>
      <inertia ixx="1e-9" ixy="0.0" ixz="0.0" iyy="1e-9" iyz="0.0" izz="1e-9"/>
    </inertial>
  </link>
  <joint name="right_qbhand_thumb_knuckle_joint" type="revolute">
    <origin rpy="-1.57 3.14 0.0" xyz="-0.044 -0.0465 -0.002"/>
    <parent link="right_qbhand_palm_link"/>
    <child link="right_qbhand_thumb_knuckle_link"/>
    <axis xyz="0 0 -1"/>
    <dynamics damping="0.0" friction="0.0"/>
    <limit effort="100" lower="0.0" upper="1.571" velocity="100"/>
    <mimic joint="right_qbhand_synergy_joint" multiplier="2.542"/>
  </joint>
  <link name="right_qbhand_thumb_knuckle_link">
    <inertial>
      <mass value="0.01"/>
      <origin rpy="0 0 0" xyz="1.3071561e-02 -2.7357764e-03 6.4347823e-04"/>
      <inertia ixx="3.5865978e-07" ixy="2.0944224e-07" ixz="-6.8657569e-08" iyy="1.3885564e-06" iyz="3.2170608e-08" izz="1.3571203e-06"/>
    </inertial>
    <visual>
      <origin rpy="0 0 0" xyz="0 0 0"/>
      <geometry>
        <mesh filename="../meshes/qbhand/ph_thumb_r.stl" scale="0.001 0.001 0.001"/>
      </geometry>
      <material name="qbhand/knuckle"/>
    </visual>
    <collision>
      <origin rpy="0 0 0" xyz="0 0 0"/>
      <geometry>
        <mesh filename="../meshes/qbhand/ph_thumb_r.stl" scale="0.001 0.001 0.001"/>
      </geometry>
    </collision>
  </link>
  <joint name="right_qbhand_thumb_proximal_joint" type="revolute">
    <origin rpy="-1.1415 0.0 0.0" xyz="0.0255 -0.0038 -0.00012"/>
    <parent link="right_qbhand_thumb_knuckle_link"/>
    <child link="right_qbhand_thumb_proximal_virtual_link"/>
    <axis xyz="0 0 -1"/>
    <dynamics damping="0.0" friction="0.0"/>
    <limit effort="100" lower="0.0" upper="0.785" velocity="100"/>
    <mimic joint="right_qbhand_synergy_joint" multiplier="0.785"/>
  </joint>
  <link name="right_qbhand_thumb_proximal_virtual_link">
    <inertial>
      <origin rpy="0 0 0" xyz="0 0 0"/>
      <mass value="1e-4"/>
      <inertia ixx="1e-9" ixy="0.0" ixz="0.0" iyy="1e-9" iyz="0.0" izz="1e-9"/>
    </inertial>
  </link>
  <joint name="right_qbhand_thumb_proximal_virtual_joint" type="revolute">
    <origin rpy="0 0 0" xyz="0.013 0 0"/>
    <parent link="right_qbhand_thumb_proximal_virtual_link"/>
    <child link="right_qbhand_thumb_proximal_link"/>
    <axis xyz="0 0 -1"/>
    <dynamics damping="0.0" friction="0.0"/>
    <limit effort="100" lower="0.0" upper="0.785" velocity="100"/>
    <mimic joint="right_qbhand_thumb_proximal_joint" multiplier="1.0"/>
  </joint>
  <link name="right_qbhand_thumb_proximal_link">
    <inertial>
      <mass value="0.0063"/>
      <origin rpy="0 0 0" xyz="4.7601567e-03 -1.3786947e-03 0.0"/>
      <inertia ixx="1.8024201e-07" ixy="5.756798e-09" ixz="0.0" iyy="2.3516266e-07" iyz="0.0" izz="2.691504e-07"/>
    </inertial>
    <visual>
      <origin rpy="0 0 0" xyz="0 0 0"/>
      <geometry>
        <mesh filename="../meshes/qbhand/ph_short.stl" scale="0.001 0.001 0.001"/>
      </geometry>
      <material name="qbhand/proximal"/>
    </visual>
    <collision>
      <origin rpy="0 0 0" xyz="0 0 0"/>
      <geometry>
        <mesh filename="../meshes/qbhand/ph_short.stl" scale="0.001 0.001 0.001"/>
      </geometry>
    </collision>
  </link>
  <joint name="right_qbhand_thumb_distal_joint" type="revolute">
    <origin rpy="0 0 0" xyz="0.009 0 0"/>
    <parent link="right_qbhand_thumb_proximal_link"/>
    <child link="right_qbhand_thumb_distal_virtual_link"/>
    <axis xyz="0 0 -1"/>
    <dynamics damping="0.0" friction="0.0"/>
    <limit effort="100" lower="0.0" upper="0.785" velocity="100"/>
    <mimic joint="right_qbhand_synergy_joint" multiplier="0.785"/>
  </joint>
  <link name="right_qbhand_thumb_distal_virtual_link">
    <inertial>
      <origin rpy="0 0 0" xyz="0 0 0"/>
      <mass value="1e-4"/>
      <inertia ixx="1e-9" ixy="0.0" ixz="0.0" iyy="1e-9" iyz="0.0" izz="1e-9"/>
    </inertial>
  </link>
  <joint name="right_qbhand_thumb_distal_virtual_joint" type="revolute">
    <origin rpy="0 0 0" xyz="0.013 0 0"/>
    <parent link="right_qbhand_thumb_distal_virtual_link"/>
    <child link="right_qbhand_thumb_distal_link"/>
    <axis xyz="0 0 -1"/>
    <dynamics damping="0.0" friction="0.0"/>
    <limit effort="100" lower="0.0" upper="0.785" velocity="100"/>
    <mimic joint="right_qbhand_thumb_distal_joint" multiplier="1.0"/>
  </joint>
  <link name="right_qbhand_thumb_distal_link">
    <inertial>
      <mass value="0.009"/>
      <origin rpy="0 0 0" xyz="8.8025467e-03 -1.7219289e-03 0.0"/>
      <inertia ixx="2.6586142e-07" ixy="1.2416847e-08" ixz="0.0" iyy="5.9935767e-07" iyz="0.0" izz="6.6781963e-07"/>
    </inertial>
    <visual>
      <origin rpy="0 0 0" xyz="0 0 0"/>
      <geometry>
        <mesh filename="../meshes/qbhand/ph_distal.stl" scale="0.001 0.001 0.001"/>
      </geometry>
      <material name="qbhand/distal"/>
    </visual>
    <collision>
      <origin rpy="0 0 0" xyz="0 0 0"/>
      <geometry>
        <mesh filename="../meshes/qbhand/ph_distal.stl" scale="0.001 0.001 0.001"/>
      </geometry>
    </collision>
  </link>
  <joint name="right_qbhand_index_knuckle_joint" type="revolute">
    <origin rpy="0 0 1.57" xyz="-0.02 -0.007 0.014"/>
    <parent link="right_qbhand_palm_link"/>
    <child link="right_qbhand_index_knuckle_link"/>
    <axis xyz="0 0 -1"/>
    <dynamics damping="0.0" friction="0.0"/>
    <limit effort="100" lower="-0.524" upper="0.524" velocity="100"/>
    <mimic joint="right_qbhand_synergy_joint" multiplier="-0.2"/>
  </joint>
  <link name="right_qbhand_index_knuckle_link">
    <inertial>
      <mass value="0.0095"/>
      <origin rpy="0 0 0" xyz="4.2753603e-04  0.0 -1.4321738e-03"/>
      <inertia ixx="6.4337303e-07" ixy="0.0" ixz="-3.9373913e-08" iyy="1.1253771e-06" iyz="0.0" izz="7.2336948e-07"/>
    </inertial>
    <visual>
      <origin rpy="0 0 0" xyz="0 0 0"/>
      <geometry>
        <mesh filename="../meshes/qbhand/ph_knuckle.stl" scale="0.001 0.001 0.001"/>
      </geometry>
      <material name="qbhand/knuckle"/>
    </visual>
    <collision>
      <origin rpy="0 0 0" xyz="0 0 0"/>
      <geometry>
        <mesh filename="../meshes/qbhand/ph_knuckle.stl" scale="0.001 0.001 0.001"/>
      </geometry>
    </collision>
  </link>
  <joint name="right_qbhand_index_proximal_joint" type="revolute">
    <origin rpy="1.57 0 0" xyz="0.009 0 0"/>
    <parent link="right_qbhand_index_knuckle_link"/>
    <child link="right_qbhand_index_proximal_virtual_link"/>
    <axis xyz="0 0 -1"/>
    <dynamics damping="0.0" friction="0.0"/>
    <limit effort="100" lower="0.0" upper="0.785" velocity="100"/>
    <mimic joint="right_qbhand_synergy_joint" multiplier="0.785"/>
  </joint>
  <link name="right_qbhand_index_proximal_virtual_link">
    <inertial>
      <origin rpy="0 0 0" xyz="0 0 0"/>
      <mass value="1e-4"/>
      <inertia ixx="1e-9" ixy="0.0" ixz="0.0" iyy="1e-9" iyz="0.0" izz="1e-9"/>
    </inertial>
  </link>
  <joint name="right_qbhand_index_proximal_virtual_joint" type="revolute">
    <origin rpy="0 0 0" xyz="0.013 0 0"/>
    <parent link="right_qbhand_index_proximal_virtual_link"/>
    <child link="right_qbhand_index_proximal_link"/>
    <axis xyz="0 0 -1"/>
    <dynamics damping="0.0" friction="0.0"/>
    <limit effort="100" lower="0.0" upper="0.785" velocity="100"/>
    <mimic joint="right_qbhand_index_proximal_joint" multiplier="1.0"/>
  </joint>
  <link name="right_qbhand_index_proximal_link">
    <inertial>
      <mass value="0.0082"/>
      <origin rpy="0 0 0" xyz="8.7707437e-03 -1.7863138e-03 0.0"/>
      <inertia ixx="2.2722068e-07" ixy="1.1586053e-08" ixz="0.0" iyy="5.5947233e-07" iyz="0.0" izz="5.9562195e-07"/>
    </inertial>
    <visual>
      <origin rpy="0 0 0" xyz="0 0 0"/>
      <geometry>
        <mesh filename="../meshes/qbhand/ph_medium.stl" scale="0.001 0.001 0.001"/>
      </geometry>
      <material name="qbhand/proximal"/>
    </visual>
    <collision>
      <origin rpy="0 0 0" xyz="0 0 0"/>
      <geometry>
        <mesh filename="../meshes/qbhand/ph_medium.stl" scale="0.001 0.001 0.001"/>
      </geometry>
    </collision>
  </link>
  <joint name="right_qbhand_index_middle_joint" type="revolute">
    <origin rpy="0 0 0" xyz="0.017 0 0"/>
    <parent link="right_qbhand_index_proximal_link"/>
    <child link="right_qbhand_index_middle_virtual_link"/>
    <axis xyz="0 0 -1"/>
    <dynamics damping="0.0" friction="0.0"/>
    <limit effort="100" lower="0.0" upper="0.785" velocity="100"/>
    <mimic joint="right_qbhand_synergy_joint" multiplier="0.785"/>
  </joint>
  <link name="right_qbhand_index_middle_virtual_link">
    <inertial>
      <origin rpy="0 0 0" xyz="0 0 0"/>
      <mass value="1e-4"/>
      <inertia ixx="1e-9" ixy="0.0" ixz="0.0" iyy="1e-9" iyz="0.0" izz="1e-9"/>
    </inertial>
  </link>
  <joint name="right_qbhand_index_middle_virtual_joint" type="revolute">
    <origin rpy="0 0 0" xyz="0.013 0 0"/>
    <parent link="right_qbhand_index_middle_virtual_link"/>
    <child link="right_qbhand_index_middle_link"/>
    <axis xyz="0 0 -1"/>
    <dynamics damping="0.0" friction="0.0"/>
    <limit effort="100" lower="0.0" upper="0.785" velocity="100"/>
    <mimic joint="right_qbhand_index_middle_joint" multiplier="1.0"/>
  </joint>
  <link name="right_qbhand_index_middle_link">
    <inertial>
      <mass value="0.0063"/>
      <origin rpy="0 0 0" xyz="4.7601567e-03 -1.3786947e-03 0.0"/>
      <inertia ixx="1.8024201e-07" ixy="5.756798e-09" ixz="0.0" iyy="2.3516266e-07" iyz="0.0" izz="2.691504e-07"/>
    </inertial>
    <visual>
      <origin rpy="0 0 0" xyz="0 0 0"/>
      <geometry>
        <mesh filename="../meshes/qbhand/ph_short.stl" scale="0.001 0.001 0.001"/>
      </geometry>
      <material name="qbhand/middle"/>
    </visual>
    <collision>
      <origin rpy="0 0 0" xyz="0 0 0"/>
      <geometry>
        <mesh filename="../meshes/qbhand/ph_short.stl" scale="0.001 0.001 0.001"/>
      </geometry>
    </collision>
  </link>
  <joint name="right_qbhand_index_distal_joint" type="revolute">
    <origin rpy="0 0 0" xyz="0.009 0 0"/>
    <parent link="right_qbhand_index_middle_link"/>
    <child link="right_qbhand_index_distal_virtual_link"/>
    <axis xyz="0 0 -1"/>
    <dynamics damping="0.0" friction="0.0"/>
    <limit effort="100" lower="0.0" upper="0.785" velocity="100"/>
    <mimic joint="right_qbhand_synergy_joint" multiplier="0.785"/>
  </joint>
  <link name="right_qbhand_index_distal_virtual_link">
    <inertial>
      <origin rpy="0 0 0" xyz="0 0 0"/>
      <mass value="1e-4"/>
      <inertia ixx="1e-9" ixy="0.0" ixz="0.0" iyy="1e-9" iyz="0.0" izz="1e-9"/>
    </inertial>
  </link>
  <joint name="right_qbhand_index_distal_virtual_joint" type="revolute">
    <origin rpy="0 0 0" xyz="0.013 0 0"/>
    <parent link="right_qbhand_index_distal_virtual_link"/>
    <child link="right_qbhand_index_distal_link"/>
    <axis xyz="0 0 -1"/>
    <dynamics damping="0.0" friction="0.0"/>
    <limit effort="100" lower="0.0" upper="0.785" velocity="100"/>
    <mimic joint="right_qbhand_index_distal_joint" multiplier="1.0"/>
  </joint>
  <link name="right_qbhand_index_distal_link">
    <inertial>
      <mass value="0.009"/>
      <origin rpy="0 0 0" xyz="8.8025467e-03 -1.7219289e-03 0.0"/>
      <inertia ixx="2.6586142e-07" ixy="1.2416847e-08" ixz="0.0" iyy="5.9935767e-07" iyz="0.0" izz="6.6781963e-07"/>
    </inertial>
    <visual>
      <origin rpy="0 0 0" xyz="0 0 0"/>
      <geometry>
        <mesh filename="../meshes/qbhand/ph_distal.stl" scale="0.001 0.001 0.001"/>
      </geometry>
      <material name="qbhand/distal"/>
    </visual>
    <collision>
      <origin rpy="0 0 0" xyz="0 0 0"/>
      <geometry>
        <mesh filename="../meshes/qbhand/ph_distal.stl" scale="0.001 0.001 0.001"/>
      </geometry>
    </collision>
  </link>
  <joint name="right_qbhand_middle_knuckle_joint" type="revolute">
    <origin rpy="0 0 1.57" xyz="0 0 0.014"/>
    <parent link="right_qbhand_palm_link"/>
    <child link="right_qbhand_middle_knuckle_link"/>
    <axis xyz="0 0 -1"/>
    <dynamics damping="0.0" friction="0.0"/>
    <limit effort="100" lower="-0.524" upper="0.524" velocity="100"/>
    <mimic joint="right_qbhand_synergy_joint" multiplier="0.0"/>
  </joint>
  <link name="right_qbhand_middle_knuckle_link">
    <inertial>
      <mass value="0.0095"/>
      <origin rpy="0 0 0" xyz="4.2753603e-04  0.0 -1.4321738e-03"/>
      <inertia ixx="6.4337303e-07" ixy="0.0" ixz="-3.9373913e-08" iyy="1.1253771e-06" iyz="0.0" izz="7.2336948e-07"/>
    </inertial>
    <visual>
      <origin rpy="0 0 0" xyz="0 0 0"/>
      <geometry>
        <mesh filename="../meshes/qbhand/ph_knuckle.stl" scale="0.001 0.001 0.001"/>
      </geometry>
      <material name="qbhand/knuckle"/>
    </visual>
    <collision>
      <origin rpy="0 0 0" xyz="0 0 0"/>
      <geometry>
        <mesh filename="../meshes/qbhand/ph_knuckle.stl" scale="0.001 0.001 0.001"/>
      </geometry>
    </collision>
  </link>
  <joint name="right_qbhand_middle_proximal_joint" type="revolute">
    <origin rpy="1.57 0 0" xyz="0.009 0 0"/>
    <parent link="right_qbhand_middle_knuckle_link"/>
    <child link="right_qbhand_middle_proximal_virtual_link"/>
    <axis xyz="0 0 -1"/>
    <dynamics damping="0.0" friction="0.0"/>
    <limit effort="100" lower="0.0" upper="0.785" velocity="100"/>
    <mimic joint="right_qbhand_synergy_joint" multiplier="0.785"/>
  </joint>
  <link name="right_qbhand_middle_proximal_virtual_link">
    <inertial>
      <origin rpy="0 0 0" xyz="0 0 0"/>
      <mass value="1e-4"/>
      <inertia ixx="1e-9" ixy="0.0" ixz="0.0" iyy="1e-9" iyz="0.0" izz="1e-9"/>
    </inertial>
  </link>
  <joint name="right_qbhand_middle_proximal_virtual_joint" type="revolute">
    <origin rpy="0 0 0" xyz="0.013 0 0"/>
    <parent link="right_qbhand_middle_proximal_virtual_link"/>
    <child link="right_qbhand_middle_proximal_link"/>
    <axis xyz="0 0 -1"/>
    <dynamics damping="0.0" friction="0.0"/>
    <limit effort="100" lower="0.0" upper="0.785" velocity="100"/>
    <mimic joint="right_qbhand_middle_proximal_joint" multiplier="1.0"/>
  </joint>
  <link name="right_qbhand_middle_proximal_link">
    <inertial>
      <mass value="0.0082"/>
      <origin rpy="0 0 0" xyz="8.7707437e-03 -1.7863138e-03 0.0"/>
      <inertia ixx="2.2722068e-07" ixy="1.1586053e-08" ixz="0.0" iyy="5.5947233e-07" iyz="0.0" izz="5.9562195e-07"/>
    </inertial>
    <visual>
      <origin rpy="0 0 0" xyz="0 0 0"/>
      <geometry>
        <mesh filename="../meshes/qbhand/ph_medium.stl" scale="0.001 0.001 0.001"/>
      </geometry>
      <material name="qbhand/proximal"/>
    </visual>
    <collision>
      <origin rpy="0 0 0" xyz="0 0 0"/>
      <geometry>
        <mesh filename="../meshes/qbhand/ph_medium.stl" scale="0.001 0.001 0.001"/>
      </geometry>
    </collision>
  </link>
  <joint name="right_qbhand_middle_middle_joint" type="revolute">
    <origin rpy="0 0 0" xyz="0.017 0 0"/>
    <parent link="right_qbhand_middle_proximal_link"/>
    <child link="right_qbhand_middle_middle_virtual_link"/>
    <axis xyz="0 0 -1"/>
    <dynamics damping="0.0" friction="0.0"/>
    <limit effort="100" lower="0.0" upper="0.785" velocity="100"/>
    <mimic joint="right_qbhand_synergy_joint" multiplier="0.785"/>
  </joint>
  <link name="right_qbhand_middle_middle_virtual_link">
    <inertial>
      <origin rpy="0 0 0" xyz="0 0 0"/>
      <mass value="1e-4"/>
      <inertia ixx="1e-9" ixy="0.0" ixz="0.0" iyy="1e-9" iyz="0.0" izz="1e-9"/>
    </inertial>
  </link>
  <joint name="right_qbhand_middle_middle_virtual_joint" type="revolute">
    <origin rpy="0 0 0" xyz="0.013 0 0"/>
    <parent link="right_qbhand_middle_middle_virtual_link"/>
    <child link="right_qbhand_middle_middle_link"/>
    <axis xyz="0 0 -1"/>
    <dynamics damping="0.0" friction="0.0"/>
    <limit effort="100" lower="0.0" upper="0.785" velocity="100"/>
    <mimic joint="right_qbhand_middle_middle_joint" multiplier="1.0"/>
  </joint>
  <link name="right_qbhand_middle_middle_link">
    <inertial>
      <mass value="0.0063"/>
      <origin rpy="0 0 0" xyz="4.7601567e-03 -1.3786947e-03 0.0"/>
      <inertia ixx="1.8024201e-07" ixy="5.756798e-09" ixz="0.0" iyy="2.3516266e-07" iyz="0.0" izz="2.691504e-07"/>
    </inertial>
    <visual>
      <origin rpy="0 0 0" xyz="0 0 0"/>
      <geometry>
        <mesh filename="../meshes/qbhand/ph_short.stl" scale="0.001 0.001 0.001"/>
      </geometry>
      <material name="qbhand/middle"/>
    </visual>
    <collision>
      <origin rpy="0 0 0" xyz="0 0 0"/>
      <geometry>
        <mesh filename="../meshes/qbhand/ph_short.stl" scale="0.001 0.001 0.001"/>
      </geometry>
    </collision>
  </link>
  <joint name="right_qbhand_middle_distal_joint" type="revolute">
    <origin rpy="0 0 0" xyz="0.009 0 0"/>
    <parent link="right_qbhand_middle_middle_link"/>
    <child link="right_qbhand_middle_distal_virtual_link"/>
    <axis xyz="0 0 -1"/>
    <dynamics damping="0.0" friction="0.0"/>
    <limit effort="100" lower="0.0" upper="0.785" velocity="100"/>
    <mimic joint="right_qbhand_synergy_joint" multiplier="0.785"/>
  </joint>
  <link name="right_qbhand_middle_distal_virtual_link">
    <inertial>
      <origin rpy="0 0 0" xyz="0 0 0"/>
      <mass value="1e-4"/>
      <inertia ixx="1e-9" ixy="0.0" ixz="0.0" iyy="1e-9" iyz="0.0" izz="1e-9"/>
    </inertial>
  </link>
  <joint name="right_qbhand_middle_distal_virtual_joint" type="revolute">
    <origin rpy="0 0 0" xyz="0.013 0 0"/>
    <parent link="right_qbhand_middle_distal_virtual_link"/>
    <child link="right_qbhand_middle_distal_link"/>
    <axis xyz="0 0 -1"/>
    <dynamics damping="0.0" friction="0.0"/>
    <limit effort="100" lower="0.0" upper="0.785" velocity="100"/>
    <mimic joint="right_qbhand_middle_distal_joint" multiplier="1.0"/>
  </joint>
  <link name="right_qbhand_middle_distal_link">
    <inertial>
      <mass value="0.009"/>
      <origin rpy="0 0 0" xyz="8.8025467e-03 -1.7219289e-03 0.0"/>
      <inertia ixx="2.6586142e-07" ixy="1.2416847e-08" ixz="0.0" iyy="5.9935767e-07" iyz="0.0" izz="6.6781963e-07"/>
    </inertial>
    <visual>
      <origin rpy="0 0 0" xyz="0 0 0"/>
      <geometry>
        <mesh filename="../meshes/qbhand/ph_distal.stl" scale="0.001 0.001 0.001"/>
      </geometry>
      <material name="qbhand/distal"/>
    </visual>
    <collision>
      <origin rpy="0 0 0" xyz="0 0 0"/>
      <geometry>
        <mesh filename="../meshes/qbhand/ph_distal.stl" scale="0.001 0.001 0.001"/>
      </geometry>
    </collision>
  </link>
  <joint name="right_qbhand_ring_knuckle_joint" type="revolute">
    <origin rpy="0 0 1.57" xyz="0.02 -0.007 0.014"/>
    <parent link="right_qbhand_palm_link"/>
    <child link="right_qbhand_ring_knuckle_link"/>
    <axis xyz="0 0 -1"/>
    <dynamics damping="0.0" friction="0.0"/>
    <limit effort="100" lower="-0.524" upper="0.524" velocity="100"/>
    <mimic joint="right_qbhand_synergy_joint" multiplier="0.2"/>
  </joint>
  <link name="right_qbhand_ring_knuckle_link">
    <inertial>
      <mass value="0.0095"/>
      <origin rpy="0 0 0" xyz="4.2753603e-04  0.0 -1.4321738e-03"/>
      <inertia ixx="6.4337303e-07" ixy="0.0" ixz="-3.9373913e-08" iyy="1.1253771e-06" iyz="0.0" izz="7.2336948e-07"/>
    </inertial>
    <visual>
      <origin rpy="0 0 0" xyz="0 0 0"/>
      <geometry>
        <mesh filename="../meshes/qbhand/ph_knuckle.stl" scale="0.001 0.001 0.001"/>
      </geometry>
      <material name="qbhand/knuckle"/>
    </visual>
    <collision>
      <origin rpy="0 0 0" xyz="0 0 0"/>
      <geometry>
        <mesh filename="../meshes/qbhand/ph_knuckle.stl" scale="0.001 0.001 0.001"/>
      </geometry>
    </collision>
  </link>
  <joint name="right_qbhand_ring_proximal_joint" type="revolute">
    <origin rpy="1.57 0 0" xyz="0.009 0 0"/>
    <parent link="right_qbhand_ring_knuckle_link"/>
    <child link="right_qbhand_ring_proximal_virtual_link"/>
    <axis xyz="0 0 -1"/>
    <dynamics damping="0.0" friction="0.0"/>
    <limit effort="100" lower="0.0" upper="0.785" velocity="100"/>
    <mimic joint="right_qbhand_synergy_joint" multiplier="0.785"/>
  </joint>
  <link name="right_qbhand_ring_proximal_virtual_link">
    <inertial>
      <origin rpy="0 0 0" xyz="0 0 0"/>
      <mass value="1e-4"/>
      <inertia ixx="1e-9" ixy="0.0" ixz="0.0" iyy="1e-9" iyz="0.0" izz="1e-9"/>
    </inertial>
  </link>
  <joint name="right_qbhand_ring_proximal_virtual_joint" type="revolute">
    <origin rpy="0 0 0" xyz="0.013 0 0"/>
    <parent link="right_qbhand_ring_proximal_virtual_link"/>
    <child link="right_qbhand_ring_proximal_link"/>
    <axis xyz="0 0 -1"/>
    <dynamics damping="0.0" friction="0.0"/>
    <limit effort="100" lower="0.0" upper="0.785" velocity="100"/>
    <mimic joint="right_qbhand_ring_proximal_joint" multiplier="1.0"/>
  </joint>
  <link name="right_qbhand_ring_proximal_link">
    <inertial>
      <mass value="0.0082"/>
      <origin rpy="0 0 0" xyz="8.7707437e-03 -1.7863138e-03 0.0"/>
      <inertia ixx="2.2722068e-07" ixy="1.1586053e-08" ixz="0.0" iyy="5.5947233e-07" iyz="0.0" izz="5.9562195e-07"/>
    </inertial>
    <visual>
      <origin rpy="0 0 0" xyz="0 0 0"/>
      <geometry>
        <mesh filename="../meshes/qbhand/ph_medium.stl" scale="0.001 0.001 0.001"/>
      </geometry>
      <material name="qbhand/proximal"/>
    </visual>
    <collision>
      <origin rpy="0 0 0" xyz="0 0 0"/>
      <geometry>
        <mesh filename="../meshes/qbhand/ph_medium.stl" scale="0.001 0.001 0.001"/>
      </geometry>
    </collision>
  </link>
  <joint name="right_qbhand_ring_middle_joint" type="revolute">
    <origin rpy="0 0 0" xyz="0.017 0 0"/>
    <parent link="right_qbhand_ring_proximal_link"/>
    <child link="right_qbhand_ring_middle_virtual_link"/>
    <axis xyz="0 0 -1"/>
    <dynamics damping="0.0" friction="0.0"/>
    <limit effort="100" lower="0.0" upper="0.785" velocity="100"/>
    <mimic joint="right_qbhand_synergy_joint" multiplier="0.785"/>
  </joint>
  <link name="right_qbhand_ring_middle_virtual_link">
    <inertial>
      <origin rpy="0 0 0" xyz="0 0 0"/>
      <mass value="1e-4"/>
      <inertia ixx="1e-9" ixy="0.0" ixz="0.0" iyy="1e-9" iyz="0.0" izz="1e-9"/>
    </inertial>
  </link>
  <joint name="right_qbhand_ring_middle_virtual_joint" type="revolute">
    <origin rpy="0 0 0" xyz="0.013 0 0"/>
    <parent link="right_qbhand_ring_middle_virtual_link"/>
    <child link="right_qbhand_ring_middle_link"/>
    <axis xyz="0 0 -1"/>
    <dynamics damping="0.0" friction="0.0"/>
    <limit effort="100" lower="0.0" upper="0.785" velocity="100"/>
    <mimic joint="right_qbhand_ring_middle_joint" multiplier="1.0"/>
  </joint>
  <link name="right_qbhand_ring_middle_link">
    <inertial>
      <mass value="0.0063"/>
      <origin rpy="0 0 0" xyz="4.7601567e-03 -1.3786947e-03 0.0"/>
      <inertia ixx="1.8024201e-07" ixy="5.756798e-09" ixz="0.0" iyy="2.3516266e-07" iyz="0.0" izz="2.691504e-07"/>
    </inertial>
    <visual>
      <origin rpy="0 0 0" xyz="0 0 0"/>
      <geometry>
        <mesh filename="../meshes/qbhand/ph_short.stl" scale="0.001 0.001 0.001"/>
      </geometry>
      <material name="qbhand/middle"/>
    </visual>
    <collision>
      <origin rpy="0 0 0" xyz="0 0 0"/>
      <geometry>
        <mesh filename="../meshes/qbhand/ph_short.stl" scale="0.001 0.001 0.001"/>
      </geometry>
    </collision>
  </link>
  <joint name="right_qbhand_ring_distal_joint" type="revolute">
    <origin rpy="0 0 0" xyz="0.009 0 0"/>
    <parent link="right_qbhand_ring_middle_link"/>
    <child link="right_qbhand_ring_distal_virtual_link"/>
    <axis xyz="0 0 -1"/>
    <dynamics damping="0.0" friction="0.0"/>
    <limit effort="100" lower="0.0" upper="0.785" velocity="100"/>
    <mimic joint="right_qbhand_synergy_joint" multiplier="0.785"/>
  </joint>
  <link name="right_qbhand_ring_distal_virtual_link">
    <inertial>
      <origin rpy="0 0 0" xyz="0 0 0"/>
      <mass value="1e-4"/>
      <inertia ixx="1e-9" ixy="0.0" ixz="0.0" iyy="1e-9" iyz="0.0" izz="1e-9"/>
    </inertial>
  </link>
  <joint name="right_qbhand_ring_distal_virtual_joint" type="revolute">
    <origin rpy="0 0 0" xyz="0.013 0 0"/>
    <parent link="right_qbhand_ring_distal_virtual_link"/>
    <child link="right_qbhand_ring_distal_link"/>
    <axis xyz="0 0 -1"/>
    <dynamics damping="0.0" friction="0.0"/>
    <limit effort="100" lower="0.0" upper="0.785" velocity="100"/>
    <mimic joint="right_qbhand_ring_distal_joint" multiplier="1.0"/>
  </joint>
  <link name="right_qbhand_ring_distal_link">
    <inertial>
      <mass value="0.009"/>
      <origin rpy="0 0 0" xyz="8.8025467e-03 -1.7219289e-03 0.0"/>
      <inertia ixx="2.6586142e-07" ixy="1.2416847e-08" ixz="0.0" iyy="5.9935767e-07" iyz="0.0" izz="6.6781963e-07"/>
    </inertial>
    <visual>
      <origin rpy="0 0 0" xyz="0 0 0"/>
      <geometry>
        <mesh filename="../meshes/qbhand/ph_distal.stl" scale="0.001 0.001 0.001"/>
      </geometry>
      <material name="qbhand/distal"/>
    </visual>
    <collision>
      <origin rpy="0 0 0" xyz="0 0 0"/>
      <geometry>
        <mesh filename="../meshes/qbhand/ph_distal.stl" scale="0.001 0.001 0.001"/>
      </geometry>
    </collision>
  </link>
  <joint name="right_qbhand_little_knuckle_joint" type="revolute">
    <origin rpy="0 0 1.57" xyz="0.04 -0.012 0.014"/>
    <parent link="right_qbhand_palm_link"/>
    <child link="right_qbhand_little_knuckle_link"/>
    <axis xyz="0 0 -1"/>
    <dynamics damping="0.0" friction="0.0"/>
    <limit effort="100" lower="-0.524" upper="0.524" velocity="100"/>
    <mimic joint="right_qbhand_synergy_joint" multiplier="0.4"/>
  </joint>
  <link name="right_qbhand_little_knuckle_link">
    <inertial>
      <mass value="0.0095"/>
      <origin rpy="0 0 0" xyz="4.2753603e-04  0.0 -1.4321738e-03"/>
      <inertia ixx="6.4337303e-07" ixy="0.0" ixz="-3.9373913e-08" iyy="1.1253771e-06" iyz="0.0" izz="7.2336948e-07"/>
    </inertial>
    <visual>
      <origin rpy="0 0 0" xyz="0 0 0"/>
      <geometry>
        <mesh filename="../meshes/qbhand/ph_knuckle.stl" scale="0.001 0.001 0.001"/>
      </geometry>
      <material name="qbhand/knuckle"/>
    </visual>
    <collision>
      <origin rpy="0 0 0" xyz="0 0 0"/>
      <geometry>
        <mesh filename="../meshes/qbhand/ph_knuckle.stl" scale="0.001 0.001 0.001"/>
      </geometry>
    </collision>
  </link>
  <joint name="right_qbhand_little_proximal_joint" type="revolute">
    <origin rpy="1.57 0 0" xyz="0.009 0 0"/>
    <parent link="right_qbhand_little_knuckle_link"/>
    <child link="right_qbhand_little_proximal_virtual_link"/>
    <axis xyz="0 0 -1"/>
    <dynamics damping="0.0" friction="0.0"/>
    <limit effort="100" lower="0.0" upper="0.785" velocity="100"/>
    <mimic joint="right_qbhand_synergy_joint" multiplier="0.785"/>
  </joint>
  <link name="right_qbhand_little_proximal_virtual_link">
    <inertial>
      <origin rpy="0 0 0" xyz="0 0 0"/>
      <mass value="1e-4"/>
      <inertia ixx="1e-9" ixy="0.0" ixz="0.0" iyy="1e-9" iyz="0.0" izz="1e-9"/>
    </inertial>
  </link>
  <joint name="right_qbhand_little_proximal_virtual_joint" type="revolute">
    <origin rpy="0 0 0" xyz="0.013 0 0"/>
    <parent link="right_qbhand_little_proximal_virtual_link"/>
    <child link="right_qbhand_little_proximal_link"/>
    <axis xyz="0 0 -1"/>
    <dynamics damping="0.0" friction="0.0"/>
    <limit effort="100" lower="0.0" upper="0.785" velocity="100"/>
    <mimic joint="right_qbhand_little_proximal_joint" multiplier="1.0"/>
  </joint>
  <link name="right_qbhand_little_proximal_link">
    <inertial>
      <mass value="0.0063"/>
      <origin rpy="0 0 0" xyz="4.7601567e-03 -1.3786947e-03 0.0"/>
      <inertia ixx="1.8024201e-07" ixy="5.756798e-09" ixz="0.0" iyy="2.3516266e-07" iyz="0.0" izz="2.691504e-07"/>
    </inertial>
    <visual>
      <origin rpy="0 0 0" xyz="0 0 0"/>
      <geometry>
        <mesh filename="../meshes/qbhand/ph_short.stl" scale="0.001 0.001 0.001"/>
      </geometry>
      <material name="qbhand/proximal"/>
    </visual>
    <collision>
      <origin rpy="0 0 0" xyz="0 0 0"/>
      <geometry>
        <mesh filename="../meshes/qbhand/ph_short.stl" scale="0.001 0.001 0.001"/>
      </geometry>
    </collision>
  </link>
  <joint name="right_qbhand_little_middle_joint" type="revolute">
    <origin rpy="0 0 0" xyz="0.009 0 0"/>
    <parent link="right_qbhand_little_proximal_link"/>
    <child link="right_qbhand_little_middle_virtual_link"/>
    <axis xyz="0 0 -1"/>
    <dynamics damping="0.0" friction="0.0"/>
    <limit effort="100" lower="0.0" upper="0.785" velocity="100"/>
    <mimic joint="right_qbhand_synergy_joint" multiplier="0.785"/>
  </joint>
  <link name="right_qbhand_little_middle_virtual_link">
    <inertial>
      <origin rpy="0 0 0" xyz="0 0 0"/>
      <mass value="1e-4"/>
      <inertia ixx="1e-9" ixy="0.0" ixz="0.0" iyy="1e-9" iyz="0.0" izz="1e-9"/>
    </inertial>
  </link>
  <joint name="right_qbhand_little_middle_virtual_joint" type="revolute">
    <origin rpy="0 0 0" xyz="0.013 0 0"/>
    <parent link="right_qbhand_little_middle_virtual_link"/>
    <child link="right_qbhand_little_middle_link"/>
    <axis xyz="0 0 -1"/>
    <dynamics damping="0.0" friction="0.0"/>
    <limit effort="100" lower="0.0" upper="0.785" velocity="100"/>
    <mimic joint="right_qbhand_little_middle_joint" multiplier="1.0"/>
  </joint>
  <link name="right_qbhand_little_middle_link">
    <inertial>
      <mass value="0.0063"/>
      <origin rpy="0 0 0" xyz="4.7601567e-03 -1.3786947e-03 0.0"/>
      <inertia ixx="1.8024201e-07" ixy="5.756798e-09" ixz="0.0" iyy="2.3516266e-07" iyz="0.0" izz="2.691504e-07"/>
    </inertial>
    <visual>
      <origin rpy="0 0 0" xyz="0 0 0"/>
      <geometry>
        <mesh filename="../meshes/qbhand/ph_short.stl" scale="0.001 0.001 0.001"/>
      </geometry>
      <material name="qbhand/middle"/>
    </visual>
    <collision>
      <origin rpy="0 0 0" xyz="0 0 0"/>
      <geometry>
        <mesh filename="../meshes/qbhand/ph_short.stl" scale="0.001 0.001 0.001"/>
      </geometry>
    </collision>
  </link>
  <joint name="right_qbhand_little_distal_joint" type="revolute">
    <origin rpy="0 0 0" xyz="0.009 0 0"/>
    <parent link="right_qbhand_little_middle_link"/>
    <child link="right_qbhand_little_distal_virtual_link"/>
    <axis xyz="0 0 -1"/>
    <dynamics damping="0.0" friction="0.0"/>
    <limit effort="100" lower="0.0" upper="0.785" velocity="100"/>
    <mimic joint="right_qbhand_synergy_joint" multiplier="0.785"/>
  </joint>
  <link name="right_qbhand_little_distal_virtual_link">
    <inertial>
      <origin rpy="0 0 0" xyz="0 0 0"/>
      <mass value="1e-4"/>
      <inertia ixx="1e-9" ixy="0.0" ixz="0.0" iyy="1e-9" iyz="0.0" izz="1e-9"/>
    </inertial>
  </link>
  <joint name="right_qbhand_little_distal_virtual_joint" type="revolute">
    <origin rpy="0 0 0" xyz="0.013 0 0"/>
    <parent link="right_qbhand_little_distal_virtual_link"/>
    <child link="right_qbhand_little_distal_link"/>
    <axis xyz="0 0 -1"/>
    <dynamics damping="0.0" friction="0.0"/>
    <limit effort="100" lower="0.0" upper="0.785" velocity="100"/>
    <mimic joint="right_qbhand_little_distal_joint" multiplier="1.0"/>
  </joint>
  <link name="right_qbhand_little_distal_link">
    <inertial>
      <mass value="0.009"/>
      <origin rpy="0 0 0" xyz="8.8025467e-03 -1.7219289e-03 0.0"/>
      <inertia ixx="2.6586142e-07" ixy="1.2416847e-08" ixz="0.0" iyy="5.9935767e-07" iyz="0.0" izz="6.6781963e-07"/>
    </inertial>
    <visual>
      <origin rpy="0 0 0" xyz="0 0 0"/>
      <geometry>
        <mesh filename="../meshes/qbhand/ph_distal.stl" scale="0.001 0.001 0.001"/>
      </geometry>
      <material name="qbhand/distal"/>
    </visual>
    <collision>
      <origin rpy="0 0 0" xyz="0 0 0"/>
      <geometry>
        <mesh filename="../meshes/qbhand/ph_distal.stl" scale="0.001 0.001 0.001"/>
      </geometry>
    </collision>
  </link>
  <joint name="right_qbhand_end_effector_fixed_joint" type="fixed">
    <origin rpy="-1.57 0 0" xyz="-0.03 0.060 0.142"/>
    <parent link="right_qbhand_base_link"/>
    <child link="right_qbhand_end_effector_link"/>
  </joint>
  <link name="right_qbhand_end_effector_link"/>
</robot>
